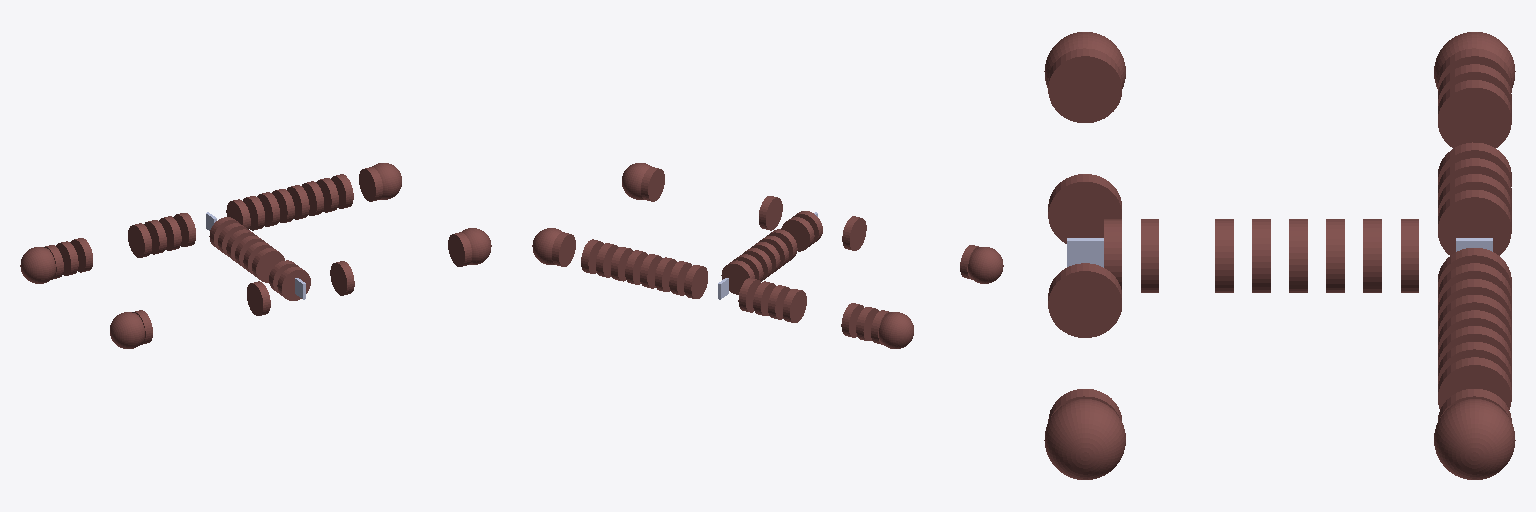
--- Render facts (derived) ---
3 views of the same robot in one strip: view 1: azimuth 30°, elevation 25°; view 2: azimuth 150°, elevation 25°; view 3: azimuth 270°, elevation 25° (orthographic).
Robot: fullurdf3 — 52 links, 51 joints (49 revolute, 2 fixed); root link base_link; default pose: all joints at 0.
Visible links, largest first — view 1: sec50, sec20, sec40, sec30, sec01, sec04, sec12, sec44, sec22; view 2: sec40, sec30, sec50, sec20, sec02, sec22, sec09, sec12, sec31, sec44; view 3: sec40, sec30, sec20, sec12, sec48, sec22, sec41, sec50, sec38, sec04, sec05, sec06 (+17 smaller).
Boxes of the visible links, x1=… form: sec50: x1=20, y1=245, x2=63, y2=283; sec20: x1=448, y1=228, x2=491, y2=266; sec40: x1=359, y1=163, x2=401, y2=201; sec30: x1=110, y1=310, x2=152, y2=348; sec01: x1=277, y1=267, x2=310, y2=300; sec04: x1=252, y1=248, x2=284, y2=282; sec12: x1=330, y1=261, x2=354, y2=295; sec44: x1=128, y1=223, x2=151, y2=257; sec22: x1=247, y1=281, x2=270, y2=315; sec40: x1=532, y1=228, x2=575, y2=266; sec30: x1=960, y1=245, x2=1003, y2=283; sec50: x1=871, y1=310, x2=913, y2=348; sec20: x1=622, y1=163, x2=664, y2=201; sec02: x1=781, y1=217, x2=814, y2=251; sec22: x1=842, y1=216, x2=866, y2=250; sec09: x1=721, y1=260, x2=754, y2=294; sec12: x1=759, y1=196, x2=782, y2=230; sec31: x1=684, y1=265, x2=707, y2=298; sec44: x1=783, y1=289, x2=806, y2=322; sec40: x1=1434, y1=389, x2=1515, y2=479; sec30: x1=1044, y1=32, x2=1125, y2=122; sec20: x1=1044, y1=389, x2=1125, y2=479; sec12: x1=1048, y1=263, x2=1121, y2=337; sec48: x1=1438, y1=80, x2=1511, y2=148; sec22: x1=1048, y1=174, x2=1121, y2=243; sec41: x1=1438, y1=190, x2=1511, y2=255; sec50: x1=1434, y1=32, x2=1515, y2=92; sec38: x1=1438, y1=357, x2=1511, y2=409; sec04: x1=1215, y1=219, x2=1233, y2=292; sec05: x1=1252, y1=219, x2=1270, y2=292; sec06: x1=1289, y1=219, x2=1307, y2=292.
Size in the robot's own frame: 0.2562 by 0.127 by 0.022 metres.
30 mesh visuals loaded from 52 distinct referenced files (30 binary STL); not drawn: 22 (reference not matched to a file when rendering).

The robot description file, URDF, robot "fullurdf3":
<?xml version="1.0" encoding="utf-8"?>
<!-- This URDF was automatically created by SolidWorks to URDF Exporter! Originally created by Stephen Brawner ([email redacted]) 
     Commit Version: 1.6.0-4-g7f85cfe  Build Version: 1.6.7995.38578
     For more information, please see http://wiki.ros.org/sw_urdf_exporter -->
<robot
  name="fullurdf3">
  <link
    name="base_link">
    <inertial>
      <origin
        xyz="2.27682456221956E-18 -0.005 0"
        rpy="0 0 0" />
      <mass
        value="0.0002" />
      <inertia
        ixx="3.33333333333334E-09"
        ixy="1.72329294281881E-26"
        ixz="3.0309750528515E-26"
        iyy="1.73333333333333E-09"
        iyz="-8.32068698519475E-26"
        izz="1.73333333333333E-09" />
    </inertial>
    <visual>
      <origin
        xyz="0 0 0"
        rpy="0 0 0" />
      <geometry>
        <mesh
          filename="package://fullurdf3/meshes/base_link.STL" />
      </geometry>
      <material
        name="">
        <color
          rgba="0.792156862745098 0.819607843137255 0.933333333333333 1" />
      </material>
    </visual>
    <collision>
      <origin
        xyz="0 0 0"
        rpy="0 0 0" />
      <geometry>
        <mesh
          filename="package://fullurdf3/meshes/base_link.STL" />
      </geometry>
    </collision>
  </link>
  <link
    name="sec01">
    <inertial>
      <origin
        xyz="7.5894E-19 0.0025 0"
        rpy="0 0 0" />
      <mass
        value="0.01398" />
      <inertia
        ixx="3.7863E-07"
        ixy="4.2141E-39"
        ixz="1.7723E-55"
        iyy="6.99E-07"
        iyz="6.754E-40"
        izz="3.7863E-07" />
    </inertial>
    <visual>
      <origin
        xyz="0 0 0"
        rpy="0 0 0" />
      <geometry>
        <mesh
          filename="package://fullurdf3/meshes/sec01.STL" />
      </geometry>
      <material
        name="">
        <color
          rgba="0.53725 0.34902 0.33725 1" />
      </material>
    </visual>
    <collision>
      <origin
        xyz="0 0 0"
        rpy="0 0 0" />
      <geometry>
        <mesh
          filename="package://fullurdf3/meshes/sec01.STL" />
      </geometry>
    </collision>
  </link>
  <joint
    name="joint01"
    type="fixed">
    <origin
      xyz="0 0 0"
      rpy="0 0 0" />
    <parent
      link="base_link" />
    <child
      link="sec01" />
    <axis
      xyz="0 0 0" />
    <limit
      lower="-1.571"
      upper="1.571"
      effort="100"
      velocity="100" />
  </joint>
  <link
    name="sec02">
    <inertial>
      <origin
        xyz="4.33680868994202E-19 0.0025 0"
        rpy="0 0 0" />
      <mass
        value="0.0139800873084746" />
      <inertia
        ixx="3.7862736460452E-07"
        ixy="4.90793830114796E-24"
        ixz="-9.81587660229593E-24"
        iyy="6.99004365423729E-07"
        iyz="-1.22698457528699E-24"
        izz="3.7862736460452E-07" />
    </inertial>
    <visual>
      <origin
        xyz="0 0 0"
        rpy="0 0 0" />
      <geometry>
        <mesh
          filename="package://fullurdf3/meshes/sec02.STL" />
      </geometry>
      <material
        name="">
        <color
          rgba="0.537254901960784 0.349019607843137 0.337254901960784 1" />
      </material>
    </visual>
    <collision>
      <origin
        xyz="0 0 0"
        rpy="0 0 0" />
      <geometry>
        <mesh
          filename="package://fullurdf3/meshes/sec02.STL" />
      </geometry>
    </collision>
  </link>
  <joint
    name="joint02"
    type="revolute">
    <origin
      xyz="0 0.01 0"
      rpy="0 0 0" />
    <parent
      link="sec01" />
    <child
      link="sec02" />
    <axis
      xyz="1 0 0" />
    <limit
      lower="-1.571"
      upper="1.571"
      effort="100"
      velocity="100" />
  </joint>
  <link
    name="sec03">
    <inertial>
      <origin
        xyz="2.71050543121376E-19 0.0025 0"
        rpy="0 0 0" />
      <mass
        value="0.0139800873084746" />
      <inertia
        ixx="3.7862736460452E-07"
        ixy="-4.90793830114797E-24"
        ixz="-3.58892988271445E-23"
        iyy="6.99004365423729E-07"
        iyz="2.45396915057398E-24"
        izz="3.7862736460452E-07" />
    </inertial>
    <visual>
      <origin
        xyz="0 0 0"
        rpy="0 0 0" />
      <geometry>
        <mesh
          filename="package://fullurdf3/meshes/sec03.STL" />
      </geometry>
      <material
        name="">
        <color
          rgba="0.537254901960784 0.349019607843137 0.337254901960784 1" />
      </material>
    </visual>
    <collision>
      <origin
        xyz="0 0 0"
        rpy="0 0 0" />
      <geometry>
        <mesh
          filename="package://fullurdf3/meshes/sec03.STL" />
      </geometry>
    </collision>
  </link>
  <joint
    name="joint03"
    type="revolute">
    <origin
      xyz="0 0.01 0"
      rpy="0 0 0" />
    <parent
      link="sec02" />
    <child
      link="sec03" />
    <axis
      xyz="1 0 0" />
    <limit
      lower="-1.571"
      upper="1.571"
      effort="100"
      velocity="100" />
  </joint>
  <link
    name="sec04">
    <inertial>
      <origin
        xyz="-3.25260651745651E-19 0.0025 0"
        rpy="0 0 0" />
      <mass
        value="0.0139800873084746" />
      <inertia
        ixx="3.7862736460452E-07"
        ixy="4.90793830114798E-24"
        ixz="-4.90793830114797E-23"
        iyy="6.99004365423729E-07"
        iyz="-1.0278932676585E-38"
        izz="3.7862736460452E-07" />
    </inertial>
    <visual>
      <origin
        xyz="0 0 0"
        rpy="0 0 0" />
      <geometry>
        <mesh
          filename="package://fullurdf3/meshes/sec04.STL" />
      </geometry>
      <material
        name="">
        <color
          rgba="0.537254901960784 0.349019607843137 0.337254901960784 1" />
      </material>
    </visual>
    <collision>
      <origin
        xyz="0 0 0"
        rpy="0 0 0" />
      <geometry>
        <mesh
          filename="package://fullurdf3/meshes/sec04.STL" />
      </geometry>
    </collision>
  </link>
  <joint
    name="joint04"
    type="revolute">
    <origin
      xyz="0 0.01 0"
      rpy="0 0 0" />
    <parent
      link="sec03" />
    <child
      link="sec04" />
    <axis
      xyz="1 0 0" />
    <limit
      lower="0"
      upper="0"
      effort="0"
      velocity="500" />
  </joint>
  <link
    name="sec05">
    <inertial>
      <origin
        xyz="-2.16840434497101E-19 0.0025 1.73472347597681E-18"
        rpy="0 0 0" />
      <mass
        value="0.0139800873084746" />
      <inertia
        ixx="3.7862736460452E-07"
        ixy="-2.45396915057397E-24"
        ixz="-1.71777840540178E-23"
        iyy="6.99004365423729E-07"
        iyz="-4.20247128011324E-40"
        izz="3.7862736460452E-07" />
    </inertial>
    <visual>
      <origin
        xyz="0 0 0"
        rpy="0 0 0" />
      <geometry>
        <mesh
          filename="package://fullurdf3/meshes/sec05.STL" />
      </geometry>
      <material
        name="">
        <color
          rgba="0.537254901960784 0.349019607843137 0.337254901960784 1" />
      </material>
    </visual>
    <collision>
      <origin
        xyz="0 0 0"
        rpy="0 0 0" />
      <geometry>
        <mesh
          filename="package://fullurdf3/meshes/sec05.STL" />
      </geometry>
    </collision>
  </link>
  <joint
    name="joint05"
    type="revolute">
    <origin
      xyz="0 0.01 0"
      rpy="0 0 0" />
    <parent
      link="sec04" />
    <child
      link="sec05" />
    <axis
      xyz="1 0 0" />
    <limit
      lower="-1.571"
      upper="1.571"
      effort="100"
      velocity="500" />
  </joint>
  <link
    name="sec06">
    <inertial>
      <origin
        xyz="-1.95156391047391E-18 0.0025 -3.46944695195361E-18"
        rpy="0 0 0" />
      <mass
        value="0.0139800873084746" />
      <inertia
        ixx="3.7862736460452E-07"
        ixy="1.22698457528698E-24"
        ixz="-5.67480366070232E-24"
        iyy="6.99004365423729E-07"
        iyz="2.97569029420945E-38"
        izz="3.7862736460452E-07" />
    </inertial>
    <visual>
      <origin
        xyz="0 0 0"
        rpy="0 0 0" />
      <geometry>
        <mesh
          filename="package://fullurdf3/meshes/sec06.STL" />
      </geometry>
      <material
        name="">
        <color
          rgba="0.537254901960784 0.349019607843137 0.337254901960784 1" />
      </material>
    </visual>
    <collision>
      <origin
        xyz="0 0 0"
        rpy="0 0 0" />
      <geometry>
        <mesh
          filename="package://fullurdf3/meshes/sec06.STL" />
      </geometry>
    </collision>
  </link>
  <joint
    name="joint06"
    type="revolute">
    <origin
      xyz="0 0.01 0"
      rpy="0 0 0" />
    <parent
      link="sec05" />
    <child
      link="sec06" />
    <axis
      xyz="1 0 0" />
    <limit
      lower="-1.571"
      upper="1.571"
      effort="100"
      velocity="500" />
  </joint>
  <link
    name="sec07">
    <inertial>
      <origin
        xyz="-1.84314369322536E-18 0.0025 -1.73472347597681E-18"
        rpy="0 0 0" />
      <mass
        value="0.0139800873084746" />
      <inertia
        ixx="3.7862736460452E-07"
        ixy="-1.67610990985475E-38"
        ixz="2.09237994446367E-37"
        iyy="6.99004365423729E-07"
        iyz="1.68127027333928E-38"
        izz="3.7862736460452E-07" />
    </inertial>
    <visual>
      <origin
        xyz="0 0 0"
        rpy="0 0 0" />
      <geometry>
        <mesh
          filename="package://fullurdf3/meshes/sec07.STL" />
      </geometry>
      <material
        name="">
        <color
          rgba="0.537254901960784 0.349019607843137 0.337254901960784 1" />
      </material>
    </visual>
    <collision>
      <origin
        xyz="0 0 0"
        rpy="0 0 0" />
      <geometry>
        <mesh
          filename="package://fullurdf3/meshes/sec07.STL" />
      </geometry>
    </collision>
  </link>
  <joint
    name="joint07"
    type="revolute">
    <origin
      xyz="0 0.01 0"
      rpy="0 0 0" />
    <parent
      link="sec06" />
    <child
      link="sec07" />
    <axis
      xyz="1 0 0" />
    <limit
      lower="-1.571"
      upper="1.571"
      effort="100"
      velocity="500" />
  </joint>
  <link
    name="sec08">
    <inertial>
      <origin
        xyz="-1.62630325872826E-18 0.0025 0"
        rpy="0 0 0" />
      <mass
        value="0.0139800873084746" />
      <inertia
        ixx="3.7862736460452E-07"
        ixy="-2.45396915057397E-24"
        ixz="-8.82039613106784E-40"
        iyy="6.99004365423729E-07"
        iyz="1.46923067573066E-39"
        izz="3.7862736460452E-07" />
    </inertial>
    <visual>
      <origin
        xyz="0 0 0"
        rpy="0 0 0" />
      <geometry>
        <mesh
          filename="package://fullurdf3/meshes/sec08.STL" />
      </geometry>
      <material
        name="">
        <color
          rgba="0.537254901960784 0.349019607843137 0.337254901960784 1" />
      </material>
    </visual>
    <collision>
      <origin
        xyz="0 0 0"
        rpy="0 0 0" />
      <geometry>
        <mesh
          filename="package://fullurdf3/meshes/sec08.STL" />
      </geometry>
    </collision>
  </link>
  <joint
    name="joint08"
    type="revolute">
    <origin
      xyz="0 0.01 0"
      rpy="0 0 0" />
    <parent
      link="sec07" />
    <child
      link="sec08" />
    <axis
      xyz="1 0 0" />
    <limit
      lower="-1.571"
      upper="1.571"
      effort="100"
      velocity="500" />
  </joint>
  <link
    name="sec09">
    <inertial>
      <origin
        xyz="-1.68051336735253E-18 0.0025 0"
        rpy="0 0 0" />
      <mass
        value="0.0139800873084746" />
      <inertia
        ixx="3.7862736460452E-07"
        ixy="5.11563180875594E-40"
        ixz="3.92635064091837E-23"
        iyy="6.9900436542373E-07"
        iyz="-2.95351140186029E-40"
        izz="3.7862736460452E-07" />
    </inertial>
    <visual>
      <origin
        xyz="0 0 0"
        rpy="0 0 0" />
      <geometry>
        <mesh
          filename="package://fullurdf3/meshes/sec09.STL" />
      </geometry>
      <material
        name="">
        <color
          rgba="0.537254901960784 0.349019607843137 0.337254901960784 1" />
      </material>
    </visual>
    <collision>
      <origin
        xyz="0 0 0"
        rpy="0 0 0" />
      <geometry>
        <mesh
          filename="package://fullurdf3/meshes/sec09.STL" />
      </geometry>
    </collision>
  </link>
  <joint
    name="joint09"
    type="revolute">
    <origin
      xyz="0 0.01 0"
      rpy="0 0 0" />
    <parent
      link="sec08" />
    <child
      link="sec09" />
    <axis
      xyz="1 0 0" />
    <limit
      lower="-1.571"
      upper="1.571"
      effort="100"
      velocity="500" />
  </joint>
  <link
    name="sec10">
    <inertial>
      <origin
        xyz="-3.41523684332934E-18 0.0025 0"
        rpy="0 0 0" />
      <mass
        value="0.0139800873084746" />
      <inertia
        ixx="3.7862736460452E-07"
        ixy="9.81587660229594E-24"
        ixz="6.13492287643496E-23"
        iyy="6.9900436542373E-07"
        iyz="4.90793830114797E-24"
        izz="3.7862736460452E-07" />
    </inertial>
    <visual>
      <origin
        xyz="0 0 0"
        rpy="0 0 0" />
      <geometry>
        <mesh
          filename="package://fullurdf3/meshes/sec10.STL" />
      </geometry>
      <material
        name="">
        <color
          rgba="0.537254901960784 0.349019607843137 0.337254901960784 1" />
      </material>
    </visual>
    <collision>
      <origin
        xyz="0 0 0"
        rpy="0 0 0" />
      <geometry>
        <mesh
          filename="package://fullurdf3/meshes/sec10.STL" />
      </geometry>
    </collision>
  </link>
  <joint
    name="joint10"
    type="revolute">
    <origin
      xyz="0 0.01 0"
      rpy="0 0 0" />
    <parent
      link="sec09" />
    <child
      link="sec10" />
    <axis
      xyz="1 0 0" />
    <limit
      lower="-1.571"
      upper="1.571"
      effort="100"
      velocity="500" />
  </joint>
  <link
    name="base02">
    <inertial>
      <origin
        xyz="-4.55364912443912E-18 0.01 0"
        rpy="0 0 0" />
      <mass
        value="0.0002" />
      <inertia
        ixx="3.33333333333334E-09"
        ixy="1.13745407508819E-26"
        ixz="-5.93103932846684E-26"
        iyy="1.73333333333334E-09"
        iyz="4.82446101602762E-25"
        izz="1.73333333333334E-09" />
    </inertial>
    <visual>
      <origin
        xyz="0 0 0"
        rpy="0 0 0" />
      <geometry>
        <mesh
          filename="package://fullurdf3/meshes/base02.STL" />
      </geometry>
      <material
        name="">
        <color
          rgba="0.792156862745098 0.819607843137255 0.933333333333333 1" />
      </material>
    </visual>
    <collision>
      <origin
        xyz="0 0 0"
        rpy="0 0 0" />
      <geometry>
        <mesh
          filename="package://fullurdf3/meshes/base02.STL" />
      </geometry>
    </collision>
  </link>
  <joint
    name="basejoint02"
    type="fixed">
    <origin
      xyz="0 0 0"
      rpy="0 0 0" />
    <parent
      link="sec10" />
    <child
      link="base02" />
    <axis
      xyz="0 0 0" />
  </joint>
  <link
    name="sec31">
    <inertial>
      <origin
        xyz="0.0025 0 1.7347E-18"
        rpy="0 0 0" />
      <mass
        value="0.01398" />
      <inertia
        ixx="6.99E-07"
        ixy="-1.4375E-23"
        ixz="1.2053E-22"
        iyy="3.7863E-07"
        iyz="-5.0766E-23"
        izz="3.7863E-07" />
    </inertial>
    <visual>
      <origin
        xyz="0 0 0"
        rpy="0 0 0" />
      <geometry>
        <mesh
          filename="package://fullurdf3/meshes/sec31.STL" />
      </geometry>
      <material
        name="">
        <color
          rgba="0.53725 0.34902 0.33725 1" />
      </material>
    </visual>
    <collision>
      <origin
        xyz="0 0 0"
        rpy="0 0 0" />
      <geometry>
        <mesh
          filename="package://fullurdf3/meshes/sec31.STL" />
      </geometry>
    </collision>
  </link>
  <joint
    name="joint31"
    type="revolute">
    <origin
      xyz="0.016 0.01 0"
      rpy="0 0 0" />
    <parent
      link="base02" />
    <child
      link="sec31" />
    <axis
      xyz="1 0 0" />
    <limit
      lower="-1.571"
      upper="1.571"
      effort="100"
      velocity="500" />
  </joint>
  <link
    name="sec32">
    <inertial>
      <origin
        xyz="0.0025 0 0"
        rpy="0 0 0" />
      <mass
        value="0.0139800873084746" />
      <inertia
        ixx="6.99004365423729E-07"
        ixy="-1.43749224972972E-23"
        ixz="1.22980674553966E-22"
        iyy="3.7862736460452E-07"
        iyz="-5.07664868024992E-23"
        izz="3.7862736460452E-07" />
    </inertial>
    <visual>
      <origin
        xyz="0 0 0"
        rpy="0 0 0" />
      <geometry>
        <mesh
          filename="package://fullurdf3/meshes/sec32.STL" />
      </geometry>
      <material
        name="">
        <color
          rgba="0.537254901960784 0.349019607843137 0.337254901960784 1" />
      </material>
    </visual>
    <collision>
      <origin
        xyz="0 0 0"
        rpy="0 0 0" />
      <geometry>
        <mesh
          filename="package://fullurdf3/meshes/sec32.STL" />
      </geometry>
    </collision>
  </link>
  <joint
    name="joint32"
    type="revolute">
    <origin
      xyz="0.01 0 0"
      rpy="0 0 0" />
    <parent
      link="sec31" />
    <child
      link="sec32" />
    <axis
      xyz="0 1 0" />
    <limit
      lower="-1.571"
      upper="1.571"
      effort="100"
      velocity="500" />
  </joint>
  <link
    name="sec33">
    <inertial>
      <origin
        xyz="0.0025 0 0"
        rpy="0 0 0" />
      <mass
        value="0.0139800873084746" />
      <inertia
        ixx="6.99004365423729E-07"
        ixy="-9.46698419614924E-24"
        ixz="1.22980674553966E-22"
        iyy="3.7862736460452E-07"
        iyz="-5.07664868024993E-23"
        izz="3.7862736460452E-07" />
    </inertial>
    <visual>
      <origin
        xyz="0 0 0"
        rpy="0 0 0" />
      <geometry>
        <mesh
          filename="package://fullurdf3/meshes/sec33.STL" />
      </geometry>
      <material
        name="">
        <color
          rgba="0.537254901960784 0.349019607843137 0.337254901960784 1" />
      </material>
    </visual>
    <collision>
      <origin
        xyz="0 0 0"
        rpy="0 0 0" />
      <geometry>
        <mesh
          filename="package://fullurdf3/meshes/sec33.STL" />
      </geometry>
    </collision>
  </link>
  <joint
    name="joint33"
    type="revolute">
    <origin
      xyz="0.01 0 0"
      rpy="0 0 0" />
    <parent
      link="sec32" />
    <child
      link="sec33" />
    <axis
      xyz="0 1 0" />
    <limit
      lower="-1.571"
      upper="1.571"
      effort="100"
      velocity="500" />
  </joint>
  <link
    name="sec34">
    <inertial>
      <origin
        xyz="0.0025 0 0"
        rpy="0 0 0" />
      <mass
        value="0.0139800873084746" />
      <inertia
        ixx="6.99004365423729E-07"
        ixy="-1.43749224972973E-23"
        ixz="1.2543464370454E-22"
        iyy="3.7862736460452E-07"
        iyz="-5.07664868024992E-23"
        izz="3.7862736460452E-07" />
    </inertial>
    <visual>
      <origin
        xyz="0 0 0"
        rpy="0 0 0" />
      <geometry>
        <mesh
          filename="package://fullurdf3/meshes/sec34.STL" />
      </geometry>
      <material
        name="">
        <color
          rgba="0.537254901960784 0.349019607843137 0.337254901960784 1" />
      </material>
    </visual>
    <collision>
      <origin
        xyz="0 0 0"
        rpy="0 0 0" />
      <geometry>
        <mesh
          filename="package://fullurdf3/meshes/sec34.STL" />
      </geometry>
    </collision>
  </link>
  <joint
    name="joint34"
    type="revolute">
    <origin
      xyz="0.01 0 0"
      rpy="0 0 0" />
    <parent
      link="sec33" />
    <child
      link="sec34" />
    <axis
      xyz="0 1 0" />
    <limit
      lower="-1.571"
      upper="1.571"
      effort="100"
      velocity="500" />
  </joint>
  <link
    name="sec35">
    <inertial>
      <origin
        xyz="0.0025 0 -3.46944695195361E-18"
        rpy="0 0 0" />
      <mass
        value="0.0139800873084746" />
      <inertia
        ixx="6.99004365423729E-07"
        ixy="-9.46698419614924E-24"
        ixz="1.22980674553966E-22"
        iyy="3.7862736460452E-07"
        iyz="-5.07664868024993E-23"
        izz="3.7862736460452E-07" />
    </inertial>
    <visual>
      <origin
        xyz="0 0 0"
        rpy="0 0 0" />
      <geometry>
        <mesh
          filename="package://fullurdf3/meshes/sec35.STL" />
      </geometry>
      <material
        name="">
        <color
          rgba="0.537254901960784 0.349019607843137 0.337254901960784 1" />
      </material>
    </visual>
    <collision>
      <origin
        xyz="0 0 0"
        rpy="0 0 0" />
      <geometry>
        <mesh
          filename="package://fullurdf3/meshes/sec35.STL" />
      </geometry>
    </collision>
  </link>
  <joint
    name="joint35"
    type="revolute">
    <origin
      xyz="0.01 0 0"
      rpy="0 0 0" />
    <parent
      link="sec34" />
    <child
      link="sec35" />
    <axis
      xyz="0 1 0" />
    <limit
      lower="-1.571"
      upper="1.571"
      effort="100"
      velocity="500" />
  </joint>
  <link
    name="sec36">
    <inertial>
      <origin
        xyz="0.0025 1.38777878078145E-17 -1.73472347597681E-18"
        rpy="0 0 0" />
      <mass
        value="0.0139800873084746" />
      <inertia
        ixx="6.9900436542373E-07"
        ixy="-1.43749224972972E-23"
        ixz="1.2543464370454E-22"
        iyy="3.7862736460452E-07"
        iyz="-5.07664868024993E-23"
        izz="3.7862736460452E-07" />
    </inertial>
    <visual>
      <origin
        xyz="0 0 0"
        rpy="0 0 0" />
      <geometry>
        <mesh
          filename="package://fullurdf3/meshes/sec36.STL" />
      </geometry>
      <material
        name="">
        <color
          rgba="0.537254901960784 0.349019607843137 0.337254901960784 1" />
      </material>
    </visual>
    <collision>
      <origin
        xyz="0 0 0"
        rpy="0 0 0" />
      <geometry>
        <mesh
          filename="package://fullurdf3/meshes/sec36.STL" />
      </geometry>
    </collision>
  </link>
  <joint
    name="joint36"
    type="revolute">
    <origin
      xyz="0.01 0 0"
      rpy="0 0 0" />
    <parent
      link="sec35" />
    <child
      link="sec36" />
    <axis
      xyz="0 1 0" />
    <limit
      lower="-1.571"
      upper="1.571"
      effort="100"
      velocity="500" />
  </joint>
  <link
    name="sec37">
    <inertial>
      <origin
        xyz="0.0025 1.38777878078145E-17 0"
        rpy="0 0 0" />
      <mass
        value="0.0139800873084746" />
      <inertia
        ixx="6.9900436542373E-07"
        ixy="-1.43749224972972E-23"
        ixz="1.22980674553966E-22"
        iyy="3.7862736460452E-07"
        iyz="-5.07664868024992E-23"
        izz="3.7862736460452E-07" />
    </inertial>
    <visual>
      <origin
        xyz="0 0 0"
        rpy="0 0 0" />
      <geometry>
        <mesh
          filename="package://fullurdf3/meshes/sec37.STL" />
      </geometry>
      <material
        name="">
        <color
          rgba="0.537254901960784 0.349019607843137 0.337254901960784 1" />
      </material>
    </visual>
    <collision>
      <origin
        xyz="0 0 0"
        rpy="0 0 0" />
      <geometry>
        <mesh
          filename="package://fullurdf3/meshes/sec37.STL" />
      </geometry>
    </collision>
  </link>
  <joint
    name="joint37"
    type="revolute">
    <origin
      xyz="0.00999999999999998 0 0"
      rpy="0 0 0" />
    <parent
      link="sec36" />
    <child
      link="sec37" />
    <axis
      xyz="0 1 0" />
    <limit
      lower="-1.571"
      upper="1.571"
      effort="100"
      velocity="500" />
  </joint>
  <link
    name="sec38">
    <inertial>
      <origin
        xyz="0.00249999999999999 1.38777878078145E-17 -6.93889390390723E-18"
        rpy="0 0 0" />
      <mass
        value="0.0139800873084746" />
      <inertia
        ixx="6.9900436542373E-07"
        ixy="-1.43749224972972E-23"
        ixz="1.22980674553966E-22"
        iyy="3.7862736460452E-07"
        iyz="-5.07664868024993E-23"
        izz="3.7862736460452E-07" />
    </inertial>
    <visual>
      <origin
        xyz="0 0 0"
        rpy="0 0 0" />
      <geometry>
        <mesh
          filename="package://fullurdf3/meshes/sec38.STL" />
      </geometry>
      <material
        name="">
        <color
          rgba="0.537254901960784 0.349019607843137 0.337254901960784 1" />
      </material>
    </visual>
    <collision>
      <origin
        xyz="0 0 0"
        rpy="0 0 0" />
      <geometry>
        <mesh
          filename="package://fullurdf3/meshes/sec38.STL" />
      </geometry>
    </collision>
  </link>
  <joint
    name="joint38"
    type="revolute">
    <origin
      xyz="0.01 0 0"
      rpy="0 0 0" />
    <parent
      link="sec37" />
    <child
      link="sec38" />
    <axis
      xyz="0 1 0" />
    <limit
      lower="-1.571"
      upper="1.571"
      effort="100"
      velocity="500" />
  </joint>
  <link
    name="sec39">
    <inertial>
      <origin
        xyz="0.00249999999999999 1.38777878078145E-17 -6.93889390390723E-18"
        rpy="0 0 0" />
      <mass
        value="0.0139800873084746" />
      <inertia
        ixx="6.9900436542373E-07"
        ixy="-1.43749224972972E-23"
        ixz="1.22980674553966E-22"
        iyy="3.7862736460452E-07"
        iyz="-5.07664868024993E-23"
        izz="3.7862736460452E-07" />
    </inertial>
    <visual>
      <origin
        xyz="0 0 0"
        rpy="0 0 0" />
      <geometry>
        <mesh
          filename="package://fullurdf3/meshes/sec39.STL" />
      </geometry>
      <material
        name="">
        <color
          rgba="0.537254901960784 0.349019607843137 0.337254901960784 1" />
      </material>
    </visual>
    <collision>
      <origin
        xyz="0 0 0"
        rpy="0 0 0" />
      <geometry>
        <mesh
          filename="package://fullurdf3/meshes/sec39.STL" />
      </geometry>
    </collision>
  </link>
  <joint
    name="joint39"
    type="revolute">
    <origin
      xyz="0.01 0 0"
      rpy="0 0 0" />
    <parent
      link="sec38" />
    <child
      link="sec39" />
    <axis
      xyz="0 1 0" />
    <limit
      lower="-1.571"
      upper="1.571"
      effort="100"
      velocity="500" />
  </joint>
  <link
    name="sec40">
    <inertial>
      <origin
        xyz="0.00986190762280907 -1.38777878078145E-17 -6.93889390390723E-18"
        rpy="0 0 0" />
      <mass
        value="0.0573263557938968" />
      <inertia
        ixx="2.91661427121802E-06"
        ixy="6.54926831459923E-24"
        ixz="3.62830346829495E-22"
        iyy="2.24174718695487E-06"
        iyz="1.68680578777252E-23"
        izz="2.24174718695487E-06" />
    </inertial>
    <visual>
      <origin
        xyz="0 0 0"
        rpy="0 0 0" />
      <geometry>
        <mesh
          filename="package://fullurdf3/meshes/sec40.STL" />
      </geometry>
      <material
        name="">
        <color
          rgba="0.537254901960784 0.349019607843137 0.337254901960784 1" />
      </material>
    </visual>
    <collision>
      <origin
        xyz="0 0 0"
        rpy="0 0 0" />
      <geometry>
        <mesh
          filename="package://fullurdf3/meshes/sec40.STL" />
      </geometry>
    </collision>
  </link>
  <joint
    name="joint40"
    type="revolute">
    <origin
      xyz="0.00999999999999998 0 0"
      rpy="0 0 0" />
    <parent
      link="sec39" />
    <child
      link="sec40" />
    <axis
      xyz="0 1 0" />
    <limit
      lower="-1.571"
      upper="1.571"
      effort="100"
      velocity="500" />
  </joint>
  <link
    name="sec41">
    <inertial>
      <origin
        xyz="-0.0025 0 0"
        rpy="0 0 0" />
      <mass
        value="0.01398" />
      <inertia
        ixx="6.99E-07"
        ixy="3.5365E-25"
        ixz="-3.4866E-23"
        iyy="3.7863E-07"
        iyz="-2.6227E-23"
        izz="3.7863E-07" />
    </inertial>
    <visual>
      <origin
        xyz="0 0 0"
        rpy="0 0 0" />
      <geometry>
        <mesh
          filename="package://fullurdf3/meshes/sec41.STL" />
      </geometry>
      <material
        name="">
        <color
          rgba="0.53725 0.34902 0.33725 1" />
      </material>
    </visual>
    <collision>
      <origin
        xyz="0 0 0"
        rpy="0 0 0" />
      <geometry>
        <mesh
          filename="package://fullurdf3/meshes/sec41.STL" />
      </geometry>
    </collision>
  </link>
  <joint
    name="joint41"
    type="revolute">
    <origin
      xyz="-0.016 0.01 0"
      rpy="0 0 0" />
    <parent
      link="base02" />
    <child
      link="sec41" />
    <axis
      xyz="1 0 0" />
    <limit
      lower="-1.571"
      upper="1.571"
      effort="100"
      velocity="500" />
  </joint>
  <link
    name="sec42">
    <inertial>
      <origin
        xyz="-0.00250000000000001 0 -6.93889390390723E-18"
        rpy="0 0 0" />
      <mass
        value="0.0139800873084746" />
      <inertia
        ixx="6.99004365423729E-07"
        ixy="2.8076173490865E-24"
        ixz="-3.9773971594086E-23"
        iyy="3.7862736460452E-07"
        iyz="-1.07361150337612E-23"
        izz="3.7862736460452E-07" />
    </inertial>
    <visual>
      <origin
        xyz="0 0 0"
        rpy="0 0 0" />
      <geometry>
        <mesh
          filename="package://fullurdf3/meshes/sec42.STL" />
      </geometry>
      <material
        name="">
        <color
          rgba="0.537254901960784 0.349019607843137 0.337254901960784 1" />
      </material>
    </visual>
    <collision>
      <origin
        xyz="0 0 0"
        rpy="0 0 0" />
      <geometry>
        <mesh
          filename="package://fullurdf3/meshes/sec42.STL" />
      </geometry>
    </collision>
  </link>
  <joint
    name="joint42"
    type="revolute">
    <origin
      xyz="-0.01 0 0"
      rpy="0 0 0" />
    <parent
      link="sec41" />
    <child
      link="sec42" />
    <axis
      xyz="0 -1 0" />
    <limit
      lower="-1.571"
      upper="1.571"
      effort="100"
      velocity="500" />
  </joint>
  <link
    name="sec43">
    <inertial>
      <origin
        xyz="-0.0025 0 1.73472347597681E-18"
        rpy="0 0 0" />
      <mass
        value="0.0139800873084746" />
      <inertia
        ixx="6.99004365423729E-07"
        ixy="2.80761734908649E-24"
        ixz="-3.9773971594086E-23"
        iyy="3.7862736460452E-07"
        iyz="1.62575456225526E-23"
        izz="3.7862736460452E-07" />
    </inertial>
    <visual>
      <origin
        xyz="0 0 0"
        rpy="0 0 0" />
      <geometry>
        <mesh
          filename="package://fullurdf3/meshes/sec43.STL" />
      </geometry>
      <material
        name="">
        <color
          rgba="0.537254901960784 0.349019607843137 0.337254901960784 1" />
      </material>
    </visual>
    <collision>
      <origin
        xyz="0 0 0"
        rpy="0 0 0" />
      <geometry>
        <mesh
          filename="package://fullurdf3/meshes/sec43.STL" />
      </geometry>
    </collision>
  </link>
  <joint
    name="joint43"
    type="revolute">
    <origin
      xyz="-0.01 0 0"
      rpy="0 0 0" />
    <parent
      link="sec42" />
    <child
      link="sec43" />
    <axis
      xyz="0 -1 0" />
    <limit
      lower="-1.571"
      upper="1.571"
      effort="100"
      velocity="500" />
  </joint>
  <link
    name="sec44">
    <inertial>
      <origin
        xyz="-0.0025 0 1.73472347597681E-18"
        rpy="0 0 0" />
      <mass
        value="0.0139800873084746" />
      <inertia
        ixx="6.99004365423729E-07"
        ixy="2.80761734908649E-24"
        ixz="-3.9773971594086E-23"
        iyy="3.7862736460452E-07"
        iyz="-3.7729775690075E-23"
        izz="3.7862736460452E-07" />
    </inertial>
    <visual>
      <origin
        xyz="0 0 0"
        rpy="0 0 0" />
      <geometry>
        <mesh
          filename="package://fullurdf3/meshes/sec44.STL" />
      </geometry>
      <material
        name="">
        <color
          rgba="0.537254901960784 0.349019607843137 0.337254901960784 1" />
      </material>
    </visual>
    <collision>
      <origin
        xyz="0 0 0"
        rpy="0 0 0" />
      <geometry>
        <mesh
          filename="package://fullurdf3/meshes/sec44.STL" />
      </geometry>
    </collision>
  </link>
  <joint
    name="joint44"
    type="revolute">
    <origin
      xyz="-0.01 0 0"
      rpy="0 0 0" />
    <parent
      link="sec43" />
    <child
      link="sec44" />
    <axis
      xyz="0 -1 0" />
    <limit
      lower="-1.571"
      upper="1.571"
      effort="100"
      velocity="500" />
  </joint>
  <link
    name="sec45">
    <inertial>
      <origin
        xyz="-0.00249999999999999 0 -5.20417042793042E-18"
        rpy="0 0 0" />
      <mass
        value="0.0139800873084746" />
      <inertia
        ixx="6.99004365423729E-07"
        ixy="5.26158649966047E-24"
        ixz="-4.4681909895234E-23"
        iyy="3.7862736460452E-07"
        iyz="-1.07361150337612E-23"
        izz="3.7862736460452E-07" />
    </inertial>
    <visual>
      <origin
        xyz="0 0 0"
        rpy="0 0 0" />
      <geometry>
        <mesh
          filename="package://fullurdf3/meshes/sec45.STL" />
      </geometry>
      <material
        name="">
        <color
          rgba="0.537254901960784 0.349019607843137 0.337254901960784 1" />
      </material>
    </visual>
    <collision>
      <origin
        xyz="0 0 0"
        rpy="0 0 0" />
      <geometry>
        <mesh
          filename="package://fullurdf3/meshes/sec45.STL" />
      </geometry>
    </collision>
  </link>
  <joint
    name="joint45"
    type="revolute">
    <origin
      xyz="-0.01 0 0"
      rpy="0 0 0" />
    <parent
      link="sec44" />
    <child
      link="sec45" />
    <axis
      xyz="0 -1 0" />
    <limit
      lower="-1.571"
      upper="1.571"
      effort="100"
      velocity="500" />
  </joint>
  <link
    name="sec46">
    <inertial>
      <origin
        xyz="-0.0025 1.38777878078145E-17 -5.20417042793042E-18"
        rpy="0 0 0" />
      <mass
        value="0.0139800873084746" />
      <inertia
        ixx="6.9900436542373E-07"
        ixy="2.8076173490865E-24"
        ixz="-3.48660332929381E-23"
        iyy="3.7862736460452E-07"
        iyz="-2.22390954270767E-23"
        izz="3.7862736460452E-07" />
    </inertial>
    <visual>
      <origin
        xyz="0 0 0"
        rpy="0 0 0" />
      <geometry>
        <mesh
          filename="package://fullurdf3/meshes/sec46.STL" />
      </geometry>
      <material
        name="">
        <color
          rgba="0.537254901960784 0.349019607843137 0.337254901960784 1" />
      </material>
    </visual>
    <collision>
      <origin
        xyz="0 0 0"
        rpy="0 0 0" />
      <geometry>
        <mesh
          filename="package://fullurdf3/meshes/sec46.STL" />
      </geometry>
    </collision>
  </link>
  <joint
    name="joint46"
    type="revolute">
    <origin
      xyz="-0.01 0 0"
      rpy="0 0 0" />
    <parent
      link="sec45" />
    <child
      link="sec46" />
    <axis
      xyz="0 -1 0" />
    <limit
      lower="-1.571"
      upper="1.571"
      effort="100"
      velocity="500" />
  </joint>
  <link
    name="sec47">
    <inertial>
      <origin
        xyz="-0.0025 1.38777878078145E-17 -5.20417042793042E-18"
        rpy="0 0 0" />
      <mass
        value="0.0139800873084746" />
      <inertia
        ixx="6.9900436542373E-07"
        ixy="3.53648198512522E-25"
        ixz="-3.48660332929381E-23"
        iyy="3.7862736460452E-07"
        iyz="-4.92327560833906E-23"
        izz="3.7862736460452E-07" />
    </inertial>
    <visual>
      <origin
        xyz="0 0 0"
        rpy="0 0 0" />
      <geometry>
        <mesh
          filename="package://fullurdf3/meshes/sec47.STL" />
      </geometry>
      <material
        name="">
        <color
          rgba="0.537254901960784 0.349019607843137 0.337254901960784 1" />
      </material>
    </visual>
    <collision>
      <origin
        xyz="0 0 0"
        rpy="0 0 0" />
      <geometry>
        <mesh
          filename="package://fullurdf3/meshes/sec47.STL" />
      </geometry>
    </collision>
  </link>
  <joint
    name="joint47"
    type="revolute">
    <origin
      xyz="-0.01 0 0"
      rpy="0 0 0" />
    <parent
      link="sec46" />
    <child
      link="sec47" />
    <axis
      xyz="0 -1 0" />
    <limit
      lower="-1.571"
      upper="1.571"
      effort="100"
      velocity="500" />
  </joint>
  <link
    name="sec48">
    <inertial>
      <origin
        xyz="-0.00249999999999999 0 -6.93889390390723E-18"
        rpy="0 0 0" />
      <mass
        value="0.0139800873084746" />
      <inertia
        ixx="6.9900436542373E-07"
        ixy="2.80761734908651E-24"
        ixz="-3.97739715940861E-23"
        iyy="3.7862736460452E-07"
        iyz="-2.22390954270767E-23"
        izz="3.7862736460452E-07" />
    </inertial>
    <visual>
      <origin
        xyz="0 0 0"
        rpy="0 0 0" />
      <geometry>
        <mesh
          filename="package://fullurdf3/meshes/sec48.STL" />
      </geometry>
      <material
        name="">
        <color
          rgba="0.537254901960784 0.349019607843137 0.337254901960784 1" />
      </material>
    </visual>
    <collision>
      <origin
        xyz="0 0 0"
        rpy="0 0 0" />
      <geometry>
        <mesh
          filename="package://fullurdf3/meshes/sec48.STL" />
      </geometry>
    </collision>
  </link>
  <joint
    name="joint48"
    type="revolute">
    <origin
      xyz="-0.01 0 0"
      rpy="0 0 0" />
    <parent
      link="sec47" />
    <child
      link="sec48" />
    <axis
      xyz="0 -1 0" />
    <limit
      lower="-1.571"
      upper="1.571"
      effort="100"
      velocity="500" />
  </joint>
  <link
    name="sec49">
    <inertial>
      <origin
        xyz="-0.0025 0 -5.20417042793042E-18"
        rpy="0 0 0" />
      <mass
        value="0.0139800873084746" />
      <inertia
        ixx="6.9900436542373E-07"
        ixy="2.8076173490865E-24"
        ixz="-3.48660332929381E-23"
        iyy="3.7862736460452E-07"
        iyz="-2.22390954270767E-23"
        izz="3.7862736460452E-07" />
    </inertial>
    <visual>
      <origin
        xyz="0 0 0"
        rpy="0 0 0" />
      <geometry>
        <mesh
          filename="package://fullurdf3/meshes/sec49.STL" />
      </geometry>
      <material
        name="">
        <color
          rgba="0.537254901960784 0.349019607843137 0.337254901960784 1" />
      </material>
    </visual>
    <collision>
      <origin
        xyz="0 0 0"
        rpy="0 0 0" />
      <geometry>
        <mesh
          filename="package://fullurdf3/meshes/sec49.STL" />
      </geometry>
    </collision>
  </link>
  <joint
    name="joint49"
    type="revolute">
    <origin
      xyz="-0.01 0 0"
      rpy="0 0 0" />
    <parent
      link="sec48" />
    <child
      link="sec49" />
    <axis
      xyz="0 -1 0" />
    <limit
      lower="-1.571"
      upper="1.571"
      effort="100"
      velocity="500" />
  </joint>
  <link
    name="sec50">
    <inertial>
      <origin
        xyz="-0.0098619076228091 2.77555756156289E-17 -4.85722573273506E-17"
        rpy="0 0 0" />
      <mass
        value="0.0573263557938968" />
      <inertia
        ixx="2.91661427121802E-06"
        ixy="-5.61980354315542E-23"
        ixz="9.3804187619452E-23"
        iyy="2.24174718695487E-06"
        iyz="-1.83562051311597E-22"
        izz="2.24174718695487E-06" />
    </inertial>
    <visual>
      <origin
        xyz="0 0 0"
        rpy="0 0 0" />
      <geometry>
        <mesh
          filename="package://fullurdf3/meshes/sec50.STL" />
      </geometry>
      <material
        name="">
        <color
          rgba="0.537254901960784 0.349019607843137 0.337254901960784 1" />
      </material>
    </visual>
    <collision>
      <origin
        xyz="0 0 0"
        rpy="0 0 0" />
      <geometry>
        <mesh
          filename="package://fullurdf3/meshes/sec50.STL" />
      </geometry>
    </collision>
  </link>
  <joint
    name="joint50"
    type="revolute">
    <origin
      xyz="-0.01 0 0"
      rpy="0 0 0" />
    <parent
      link="sec49" />
    <child
      link="sec50" />
    <axis
      xyz="0 -1 0" />
    <limit
      lower="-1.571"
      upper="1.571"
      effort="100"
      velocity="500" />
  </joint>
  <link
    name="sec11">
    <inertial>
      <origin
        xyz="0.0025 0 1.7347E-18"
        rpy="0 0 0" />
      <mass
        value="0.01398" />
      <inertia
        ixx="6.99E-07"
        ixy="-2.454E-24"
        ixz="-9.8159E-24"
        iyy="3.7863E-07"
        iyz="1.227E-23"
        izz="3.7863E-07" />
    </inertial>
    <visual>
      <origin
        xyz="0 0 0"
        rpy="0 0 0" />
      <geometry>
        <mesh
          filename="package://fullurdf3/meshes/sec11.STL" />
      </geometry>
      <material
        name="">
        <color
          rgba="0.53725 0.34902 0.33725 1" />
      </material>
    </visual>
    <collision>
      <origin
        xyz="0 0 0"
        rpy="0 0 0" />
      <geometry>
        <mesh
          filename="package://fullurdf3/meshes/sec11.STL" />
      </geometry>
    </collision>
  </link>
  <joint
    name="joint11"
    type="revolute">
    <origin
      xyz="0.016 -0.005 0"
      rpy="0 0 0" />
    <parent
      link="base_link" />
    <child
      link="sec11" />
    <axis
      xyz="1 0 0" />
    <limit
      lower="-1.571"
      upper="1.571"
      effort="100"
      velocity="500" />
  </joint>
  <link
    name="sec12">
    <inertial>
      <origin
        xyz="0.0025 0 1.73472347597681E-18"
        rpy="0 0 0" />
      <mass
        value="0.0139800873084746" />
      <inertia
        ixx="6.99004365423729E-07"
        ixy="2.26669732393498E-40"
        ixz="2.25559263306684E-40"
        iyy="3.7862736460452E-07"
        iyz="1.22698457528699E-23"
        izz="3.7862736460452E-07" />
    </inertial>
    <visual>
      <origin
        xyz="0 0 0"
        rpy="0 0 0" />
      <geometry>
        <mesh
          filename="package://fullurdf3/meshes/sec12.STL" />
      </geometry>
      <material
        name="">
        <color
          rgba="0.537254901960784 0.349019607843137 0.337254901960784 1" />
      </material>
    </visual>
    <collision>
      <origin
        xyz="0 0 0"
        rpy="0 0 0" />
      <geometry>
        <mesh
          filename="package://fullurdf3/meshes/sec12.STL" />
      </geometry>
    </collision>
  </link>
  <joint
    name="joint12"
    type="revolute">
    <origin
      xyz="0.01 0 0"
      rpy="0 0 0" />
    <parent
      link="sec11" />
    <child
      link="sec12" />
    <axis
      xyz="0 1 0" />
    <limit
      lower="-1.571"
      upper="1.571"
      effort="100"
      velocity="500" />
  </joint>
  <link
    name="sec13">
    <inertial>
      <origin
        xyz="0.0025 0 1.73472347597681E-18"
        rpy="0 0 0" />
      <mass
        value="0.0139800873084746" />
      <inertia
        ixx="6.99004365423729E-07"
        ixy="-2.45396915057399E-24"
        ixz="-9.81587660229591E-24"
        iyy="3.7862736460452E-07"
        iyz="1.22698457528699E-23"
        izz="3.7862736460452E-07" />
    </inertial>
    <visual>
      <origin
        xyz="0 0 0"
        rpy="0 0 0" />
      <geometry>
        <mesh
          filename="package://fullurdf3/meshes/sec13.STL" />
      </geometry>
      <material
        name="">
        <color
          rgba="0.537254901960784 0.349019607843137 0.337254901960784 1" />
      </material>
    </visual>
    <collision>
      <origin
        xyz="0 0 0"
        rpy="0 0 0" />
      <geometry>
        <mesh
          filename="package://fullurdf3/meshes/sec13.STL" />
      </geometry>
    </collision>
  </link>
  <joint
    name="joint13"
    type="revolute">
    <origin
      xyz="0.01 0 0"
      rpy="0 0 0" />
    <parent
      link="sec12" />
    <child
      link="sec13" />
    <axis
      xyz="0 1 0" />
    <limit
      lower="-1.571"
      upper="1.571"
      effort="100"
      velocity="500" />
  </joint>
  <link
    name="sec14">
    <inertial>
      <origin
        xyz="0.0025 0 1.73472347597681E-18"
        rpy="0 0 0" />
      <mass
        value="0.0139800873084746" />
      <inertia
        ixx="6.99004365423729E-07"
        ixy="-2.45396915057399E-24"
        ixz="-9.81587660229591E-24"
        iyy="3.7862736460452E-07"
        iyz="1.22698457528699E-23"
        izz="3.7862736460452E-07" />
    </inertial>
    <visual>
      <origin
        xyz="0 0 0"
        rpy="0 0 0" />
      <geometry>
        <mesh
          filename="package://fullurdf3/meshes/sec14.STL" />
      </geometry>
      <material
        name="">
        <color
          rgba="0.537254901960784 0.349019607843137 0.337254901960784 1" />
      </material>
    </visual>
    <collision>
      <origin
        xyz="0 0 0"
        rpy="0 0 0" />
      <geometry>
        <mesh
          filename="package://fullurdf3/meshes/sec14.STL" />
      </geometry>
    </collision>
  </link>
  <joint
    name="joint14"
    type="revolute">
    <origin
      xyz="0.01 0 0"
      rpy="0 0 0" />
    <parent
      link="sec13" />
    <child
      link="sec14" />
    <axis
      xyz="0 1 0" />
    <limit
      lower="-1.571"
      upper="1.571"
      effort="100"
      velocity="500" />
  </joint>
  <link
    name="sec15">
    <inertial>
      <origin
        xyz="0.0025 0 1.73472347597681E-18"
        rpy="0 0 0" />
      <mass
        value="0.0139800873084746" />
      <inertia
        ixx="6.99004365423729E-07"
        ixy="2.45396915057399E-24"
        ixz="9.81587660229591E-24"
        iyy="3.7862736460452E-07"
        iyz="1.22698457528699E-23"
        izz="3.7862736460452E-07" />
    </inertial>
    <visual>
      <origin
        xyz="0 0 0"
        rpy="0 0 0" />
      <geometry>
        <mesh
          filename="package://fullurdf3/meshes/sec15.STL" />
      </geometry>
      <material
        name="">
        <color
          rgba="0.537254901960784 0.349019607843137 0.337254901960784 1" />
      </material>
    </visual>
    <collision>
      <origin
        xyz="0 0 0"
        rpy="0 0 0" />
      <geometry>
        <mesh
          filename="package://fullurdf3/meshes/sec15.STL" />
      </geometry>
    </collision>
  </link>
  <joint
    name="joint15"
    type="revolute">
    <origin
      xyz="0.01 0 0"
      rpy="0 0 0" />
    <parent
      link="sec14" />
    <child
      link="sec15" />
    <axis
      xyz="0 1 0" />
    <limit
      lower="-1.571"
      upper="1.571"
      effort="100"
      velocity="500" />
  </joint>
  <link
    name="sec16">
    <inertial>
      <origin
        xyz="0.0025 0 1.73472347597681E-18"
        rpy="0 0 0" />
      <mass
        value="0.0139800873084746" />
      <inertia
        ixx="6.9900436542373E-07"
        ixy="7.98179605279416E-40"
        ixz="3.19271842111766E-39"
        iyy="3.7862736460452E-07"
        iyz="2.37728261461855E-23"
        izz="3.7862736460452E-07" />
    </inertial>
    <visual>
      <origin
        xyz="0 0 0"
        rpy="0 0 0" />
      <geometry>
        <mesh
          filename="package://fullurdf3/meshes/sec16.STL" />
      </geometry>
      <material
        name="">
        <color
          rgba="0.537254901960784 0.349019607843137 0.337254901960784 1" />
      </material>
    </visual>
    <collision>
      <origin
        xyz="0 0 0"
        rpy="0 0 0" />
      <geometry>
        <mesh
          filename="package://fullurdf3/meshes/sec16.STL" />
      </geometry>
    </collision>
  </link>
  <joint
    name="joint16"
    type="revolute">
    <origin
      xyz="0.01 0 0"
      rpy="0 0 0" />
    <parent
      link="sec15" />
    <child
      link="sec16" />
    <axis
      xyz="0 1 0" />
    <limit
      lower="-1.571"
      upper="1.571"
      effort="100"
      velocity="500" />
  </joint>
  <link
    name="sec17">
    <inertial>
      <origin
        xyz="0.0025 0 1.73472347597681E-18"
        rpy="0 0 0" />
      <mass
        value="0.0139800873084746" />
      <inertia
        ixx="6.9900436542373E-07"
        ixy="7.98179605279416E-40"
        ixz="2.55417473689413E-39"
        iyy="3.7862736460452E-07"
        iyz="2.37728261461855E-23"
        izz="3.7862736460452E-07" />
    </inertial>
    <visual>
      <origin
        xyz="0 0 0"
        rpy="0 0 0" />
      <geometry>
        <mesh
          filename="package://fullurdf3/meshes/sec17.STL" />
      </geometry>
      <material
        name="">
        <color
          rgba="0.537254901960784 0.349019607843137 0.337254901960784 1" />
      </material>
    </visual>
    <collision>
      <origin
        xyz="0 0 0"
        rpy="0 0 0" />
      <geometry>
        <mesh
          filename="package://fullurdf3/meshes/sec17.STL" />
      </geometry>
    </collision>
  </link>
  <joint
    name="joint17"
    type="revolute">
    <origin
      xyz="0.01 0 0"
      rpy="0 0 0" />
    <parent
      link="sec16" />
    <child
      link="sec17" />
    <axis
      xyz="0 1 0" />
    <limit
      lower="-1.571"
      upper="1.571"
      effort="100"
      velocity="500" />
  </joint>
  <link
    name="sec18">
    <inertial>
      <origin
        xyz="0.0025 0 1.73472347597681E-18"
        rpy="0 0 0" />
      <mass
        value="0.0139800873084746" />
      <inertia
        ixx="6.9900436542373E-07"
        ixy="7.98179605279416E-40"
        ixz="3.19271842111766E-39"
        iyy="3.7862736460452E-07"
        iyz="2.37728261461855E-23"
        izz="3.7862736460452E-07" />
    </inertial>
    <visual>
      <origin
        xyz="0 0 0"
        rpy="0 0 0" />
      <geometry>
        <mesh
          filename="package://fullurdf3/meshes/sec18.STL" />
      </geometry>
      <material
        name="">
        <color
          rgba="0.537254901960784 0.349019607843137 0.337254901960784 1" />
      </material>
    </visual>
    <collision>
      <origin
        xyz="0 0 0"
        rpy="0 0 0" />
      <geometry>
        <mesh
          filename="package://fullurdf3/meshes/sec18.STL" />
      </geometry>
    </collision>
  </link>
  <joint
    name="joint18"
    type="revolute">
    <origin
      xyz="0.01 0 0"
      rpy="0 0 0" />
    <parent
      link="sec17" />
    <child
      link="sec18" />
    <axis
      xyz="0 1 0" />
    <limit
      lower="-1.571"
      upper="1.571"
      effort="100"
      velocity="500" />
  </joint>
  <link
    name="sec19">
    <inertial>
      <origin
        xyz="0.00249999999999999 0 1.73472347597681E-18"
        rpy="0 0 0" />
      <mass
        value="0.0139800873084746" />
      <inertia
        ixx="6.9900436542373E-07"
        ixy="7.98179605279416E-40"
        ixz="3.19271842111766E-39"
        iyy="3.7862736460452E-07"
        iyz="2.37728261461855E-23"
        izz="3.7862736460452E-07" />
    </inertial>
    <visual>
      <origin
        xyz="0 0 0"
        rpy="0 0 0" />
      <geometry>
        <mesh
          filename="package://fullurdf3/meshes/sec19.STL" />
      </geometry>
      <material
        name="">
        <color
          rgba="0.537254901960784 0.349019607843137 0.337254901960784 1" />
      </material>
    </visual>
    <collision>
      <origin
        xyz="0 0 0"
        rpy="0 0 0" />
      <geometry>
        <mesh
          filename="package://fullurdf3/meshes/sec19.STL" />
      </geometry>
    </collision>
  </link>
  <joint
    name="joint19"
    type="revolute">
    <origin
      xyz="0.01 0 0"
      rpy="0 0 0" />
    <parent
      link="sec18" />
    <child
      link="sec19" />
    <axis
      xyz="0 1 0" />
    <limit
      lower="-1.571"
      upper="1.571"
      effort="100"
      velocity="500" />
  </joint>
  <link
    name="sec20">
    <inertial>
      <origin
        xyz="0.0098619076228091 1.73472347597681E-18 1.73472347597681E-18"
        rpy="0 0 0" />
      <mass
        value="0.0573263557938968" />
      <inertia
        ixx="2.91661427121802E-06"
        ixy="5.45147507989434E-23"
        ixz="1.07644495091354E-22"
        iyy="2.24174718695487E-06"
        iyz="1.58102121374392E-22"
        izz="2.24174718695487E-06" />
    </inertial>
    <visual>
      <origin
        xyz="0 0 0"
        rpy="0 0 0" />
      <geometry>
        <mesh
          filename="package://fullurdf3/meshes/sec20.STL" />
      </geometry>
      <material
        name="">
        <color
          rgba="0.537254901960784 0.349019607843137 0.337254901960784 1" />
      </material>
    </visual>
    <collision>
      <origin
        xyz="0 0 0"
        rpy="0 0 0" />
      <geometry>
        <mesh
          filename="package://fullurdf3/meshes/sec20.STL" />
      </geometry>
    </collision>
  </link>
  <joint
    name="joint20"
    type="revolute">
    <origin
      xyz="0.01 0 0"
      rpy="0 0 0" />
    <parent
      link="sec19" />
    <child
      link="sec20" />
    <axis
      xyz="0 1 0" />
    <limit
      lower="-1.571"
      upper="1.571"
      effort="100"
      velocity="500" />
  </joint>
  <link
    name="sec21">
    <inertial>
      <origin
        xyz="-0.0025 0 -1.7347E-18"
        rpy="0 0 0" />
      <mass
        value="0.01398" />
      <inertia
        ixx="6.99E-07"
        ixy="-4.9079E-24"
        ixz="4.9079E-24"
        iyy="3.7863E-07"
        iyz="-5.6748E-24"
        izz="3.7863E-07" />
    </inertial>
    <visual>
      <origin
        xyz="0 0 0"
        rpy="0 0 0" />
      <geometry>
        <mesh
          filename="package://fullurdf3/meshes/sec21.STL" />
      </geometry>
      <material
        name="">
        <color
          rgba="0.53725 0.34902 0.33725 1" />
      </material>
    </visual>
    <collision>
      <origin
        xyz="0 0 0"
        rpy="0 0 0" />
      <geometry>
        <mesh
          filename="package://fullurdf3/meshes/sec21.STL" />
      </geometry>
    </collision>
  </link>
  <joint
    name="joint21"
    type="revolute">
    <origin
      xyz="-0.016 -0.005 0"
      rpy="0 0 0" />
    <parent
      link="base_link" />
    <child
      link="sec21" />
    <axis
      xyz="1 0 0" />
    <limit
      lower="-1.571"
      upper="1.571"
      effort="100"
      velocity="500" />
  </joint>
  <link
    name="sec22">
    <inertial>
      <origin
        xyz="-0.0025 0 -1.73472347597681E-18"
        rpy="0 0 0" />
      <mass
        value="0.0139800873084746" />
      <inertia
        ixx="6.99004365423729E-07"
        ixy="-2.45396915057398E-24"
        ixz="1.47238149034439E-23"
        iyy="3.7862736460452E-07"
        iyz="-1.71777840540179E-23"
        izz="3.7862736460452E-07" />
    </inertial>
    <visual>
      <origin
        xyz="0 0 0"
        rpy="0 0 0" />
      <geometry>
        <mesh
          filename="package://fullurdf3/meshes/sec22.STL" />
      </geometry>
      <material
        name="">
        <color
          rgba="0.537254901960784 0.349019607843137 0.337254901960784 1" />
      </material>
    </visual>
    <collision>
      <origin
        xyz="0 0 0"
        rpy="0 0 0" />
      <geometry>
        <mesh
          filename="package://fullurdf3/meshes/sec22.STL" />
      </geometry>
    </collision>
  </link>
  <joint
    name="joint22"
    type="revolute">
    <origin
      xyz="-0.01 0 0"
      rpy="0 0 0" />
    <parent
      link="sec21" />
    <child
      link="sec22" />
    <axis
      xyz="0 -1 0" />
    <limit
      lower="-1.571"
      upper="1.571"
      effort="100"
      velocity="500" />
  </joint>
  <link
    name="sec23">
    <inertial>
      <origin
        xyz="-0.0025 0 -1.73472347597681E-18"
        rpy="0 0 0" />
      <mass
        value="0.0139800873084746" />
      <inertia
        ixx="6.99004365423729E-07"
        ixy="7.42721469750038E-39"
        ixz="1.96317532045918E-23"
        iyy="3.7862736460452E-07"
        iyz="-1.71777840540178E-23"
        izz="3.7862736460452E-07" />
    </inertial>
    <visual>
      <origin
        xyz="0 0 0"
        rpy="0 0 0" />
      <geometry>
        <mesh
          filename="package://fullurdf3/meshes/sec23.STL" />
      </geometry>
      <material
        name="">
        <color
          rgba="0.537254901960784 0.349019607843137 0.337254901960784 1" />
      </material>
    </visual>
    <collision>
      <origin
        xyz="0 0 0"
        rpy="0 0 0" />
      <geometry>
        <mesh
          filename="package://fullurdf3/meshes/sec23.STL" />
      </geometry>
    </collision>
  </link>
  <joint
    name="joint23"
    type="revolute">
    <origin
      xyz="-0.01 0 0"
      rpy="0 0 0" />
    <parent
      link="sec22" />
    <child
      link="sec23" />
    <axis
      xyz="0 -1 0" />
    <limit
      lower="-1.571"
      upper="1.571"
      effort="100"
      velocity="500" />
  </joint>
  <link
    name="sec24">
    <inertial>
      <origin
        xyz="-0.0025 0 -1.73472347597681E-18"
        rpy="0 0 0" />
      <mass
        value="0.0139800873084746" />
      <inertia
        ixx="6.99004365423729E-07"
        ixy="-4.90793830114797E-24"
        ixz="4.90793830114797E-24"
        iyy="3.7862736460452E-07"
        iyz="-1.71777840540179E-23"
        izz="3.7862736460452E-07" />
    </inertial>
    <visual>
      <origin
        xyz="0 0 0"
        rpy="0 0 0" />
      <geometry>
        <mesh
          filename="package://fullurdf3/meshes/sec24.STL" />
      </geometry>
      <material
        name="">
        <color
          rgba="0.537254901960784 0.349019607843137 0.337254901960784 1" />
      </material>
    </visual>
    <collision>
      <origin
        xyz="0 0 0"
        rpy="0 0 0" />
      <geometry>
        <mesh
          filename="package://fullurdf3/meshes/sec24.STL" />
      </geometry>
    </collision>
  </link>
  <joint
    name="joint24"
    type="revolute">
    <origin
      xyz="-0.01 0 0"
      rpy="0 0 0" />
    <parent
      link="sec23" />
    <child
      link="sec24" />
    <axis
      xyz="0 -1 0" />
    <limit
      lower="-1.571"
      upper="1.571"
      effort="100"
      velocity="500" />
  </joint>
  <link
    name="sec25">
    <inertial>
      <origin
        xyz="-0.0025 0 -1.73472347597681E-18"
        rpy="0 0 0" />
      <mass
        value="0.0139800873084746" />
      <inertia
        ixx="6.99004365423729E-07"
        ixy="7.42721469750038E-39"
        ixz="1.96317532045918E-23"
        iyy="3.7862736460452E-07"
        iyz="-1.71777840540178E-23"
        izz="3.7862736460452E-07" />
    </inertial>
    <visual>
      <origin
        xyz="0 0 0"
        rpy="0 0 0" />
      <geometry>
        <mesh
          filename="package://fullurdf3/meshes/sec25.STL" />
      </geometry>
      <material
        name="">
        <color
          rgba="0.537254901960784 0.349019607843137 0.337254901960784 1" />
      </material>
    </visual>
    <collision>
      <origin
        xyz="0 0 0"
        rpy="0 0 0" />
      <geometry>
        <mesh
          filename="package://fullurdf3/meshes/sec25.STL" />
      </geometry>
    </collision>
  </link>
  <joint
    name="joint25"
    type="revolute">
    <origin
      xyz="-0.01 0 0"
      rpy="0 0 0" />
    <parent
      link="sec24" />
    <child
      link="sec25" />
    <axis
      xyz="0 -1 0" />
    <limit
      lower="-1.571"
      upper="1.571"
      effort="100"
      velocity="500" />
  </joint>
  <link
    name="sec26">
    <inertial>
      <origin
        xyz="-0.0025 0 -1.73472347597681E-18"
        rpy="0 0 0" />
      <mass
        value="0.0139800873084746" />
      <inertia
        ixx="6.9900436542373E-07"
        ixy="-2.45396915057398E-24"
        ixz="1.47238149034439E-23"
        iyy="3.7862736460452E-07"
        iyz="-5.67480366070235E-24"
        izz="3.7862736460452E-07" />
    </inertial>
    <visual>
      <origin
        xyz="0 0 0"
        rpy="0 0 0" />
      <geometry>
        <mesh
          filename="package://fullurdf3/meshes/sec26.STL" />
      </geometry>
      <material
        name="">
        <color
          rgba="0.537254901960784 0.349019607843137 0.337254901960784 1" />
      </material>
    </visual>
    <collision>
      <origin
        xyz="0 0 0"
        rpy="0 0 0" />
      <geometry>
        <mesh
          filename="package://fullurdf3/meshes/sec26.STL" />
      </geometry>
    </collision>
  </link>
  <joint
    name="joint26"
    type="revolute">
    <origin
      xyz="-0.01 0 0"
      rpy="0 0 0" />
    <parent
      link="sec25" />
    <child
      link="sec26" />
    <axis
      xyz="0 -1 0" />
    <limit
      lower="-1.571"
      upper="1.571"
      effort="100"
      velocity="500" />
  </joint>
  <link
    name="sec27">
    <inertial>
      <origin
        xyz="-0.0025 0 -1.73472347597681E-18"
        rpy="0 0 0" />
      <mass
        value="0.0139800873084746" />
      <inertia
        ixx="6.9900436542373E-07"
        ixy="-2.45396915057398E-24"
        ixz="1.47238149034439E-23"
        iyy="3.7862736460452E-07"
        iyz="-5.67480366070235E-24"
        izz="3.7862736460452E-07" />
    </inertial>
    <visual>
      <origin
        xyz="0 0 0"
        rpy="0 0 0" />
      <geometry>
        <mesh
          filename="package://fullurdf3/meshes/sec27.STL" />
      </geometry>
      <material
        name="">
        <color
          rgba="0.537254901960784 0.349019607843137 0.337254901960784 1" />
      </material>
    </visual>
    <collision>
      <origin
        xyz="0 0 0"
        rpy="0 0 0" />
      <geometry>
        <mesh
          filename="package://fullurdf3/meshes/sec27.STL" />
      </geometry>
    </collision>
  </link>
  <joint
    name="joint27"
    type="revolute">
    <origin
      xyz="-0.01 0 0"
      rpy="0 0 0" />
    <parent
      link="sec26" />
    <child
      link="sec27" />
    <axis
      xyz="0 -1 0" />
    <limit
      lower="-1.571"
      upper="1.571"
      effort="100"
      velocity="500" />
  </joint>
  <link
    name="sec28">
    <inertial>
      <origin
        xyz="-0.00249999999999999 0 -1.73472347597681E-18"
        rpy="0 0 0" />
      <mass
        value="0.0139800873084746" />
      <inertia
        ixx="6.9900436542373E-07"
        ixy="-2.45396915057398E-24"
        ixz="1.47238149034439E-23"
        iyy="3.7862736460452E-07"
        iyz="-5.67480366070235E-24"
        izz="3.7862736460452E-07" />
    </inertial>
    <visual>
      <origin
        xyz="0 0 0"
        rpy="0 0 0" />
      <geometry>
        <mesh
          filename="package://fullurdf3/meshes/sec28.STL" />
      </geometry>
      <material
        name="">
        <color
          rgba="0.537254901960784 0.349019607843137 0.337254901960784 1" />
      </material>
    </visual>
    <collision>
      <origin
        xyz="0 0 0"
        rpy="0 0 0" />
      <geometry>
        <mesh
          filename="package://fullurdf3/meshes/sec28.STL" />
      </geometry>
    </collision>
  </link>
  <joint
    name="joint28"
    type="revolute">
    <origin
      xyz="-0.01 0 0"
      rpy="0 0 0" />
    <parent
      link="sec27" />
    <child
      link="sec28" />
    <axis
      xyz="0 -1 0" />
    <limit
      lower="-1.571"
      upper="1.571"
      effort="100"
      velocity="500" />
  </joint>
  <link
    name="sec29">
    <inertial>
      <origin
        xyz="-0.0025 0 -1.73472347597681E-18"
        rpy="0 0 0" />
      <mass
        value="0.0139800873084746" />
      <inertia
        ixx="6.9900436542373E-07"
        ixy="-2.45396915057398E-24"
        ixz="1.47238149034439E-23"
        iyy="3.7862736460452E-07"
        iyz="-5.67480366070235E-24"
        izz="3.7862736460452E-07" />
    </inertial>
    <visual>
      <origin
        xyz="0 0 0"
        rpy="0 0 0" />
      <geometry>
        <mesh
          filename="package://fullurdf3/meshes/sec29.STL" />
      </geometry>
      <material
        name="">
        <color
          rgba="0.537254901960784 0.349019607843137 0.337254901960784 1" />
      </material>
    </visual>
    <collision>
      <origin
        xyz="0 0 0"
        rpy="0 0 0" />
      <geometry>
        <mesh
          filename="package://fullurdf3/meshes/sec29.STL" />
      </geometry>
    </collision>
  </link>
  <joint
    name="joint29"
    type="revolute">
    <origin
      xyz="-0.01 0 0"
      rpy="0 0 0" />
    <parent
      link="sec28" />
    <child
      link="sec29" />
    <axis
      xyz="0 -1 0" />
    <limit
      lower="-1.571"
      upper="1.571"
      effort="100"
      velocity="500" />
  </joint>
  <link
    name="sec30">
    <inertial>
      <origin
        xyz="-0.00986190762280909 -5.20417042793042E-18 1.38777878078145E-17"
        rpy="0 0 0" />
      <mass
        value="0.0573263557938968" />
      <inertia
        ixx="2.91661427121802E-06"
        ixy="-1.15557336410707E-22"
        ixz="1.68922829709981E-22"
        iyy="2.24174718695487E-06"
        iyz="-7.28394512748056E-23"
        izz="2.24174718695487E-06" />
    </inertial>
    <visual>
      <origin
        xyz="0 0 0"
        rpy="0 0 0" />
      <geometry>
        <mesh
          filename="package://fullurdf3/meshes/sec30.STL" />
      </geometry>
      <material
        name="">
        <color
          rgba="0.537254901960784 0.349019607843137 0.337254901960784 1" />
      </material>
    </visual>
    <collision>
      <origin
        xyz="0 0 0"
        rpy="0 0 0" />
      <geometry>
        <mesh
          filename="package://fullurdf3/meshes/sec30.STL" />
      </geometry>
    </collision>
  </link>
  <joint
    name="joint30"
    type="revolute">
    <origin
      xyz="-0.01 0 0"
      rpy="0 0 0" />
    <parent
      link="sec29" />
    <child
      link="sec30" />
    <axis
      xyz="0 -1 0" />
    <limit
      lower="-1.571"
      upper="1.571"
      effort="100"
      velocity="500" />
  </joint>

  <gazebo>

  <plugin name="gazebo_ros_control" filename="libgazebo_ros_control.so">
  </plugin>

  </gazebo>

  <!--transmission definition -->
<!--<transmission name="tran01">
    <type>transmission_interface/SimpleTransmission</type>
    <joint name="joint01">
      <hardwareInterface>hardware_interface/EffortJointInterface</hardwareInterface>
    </joint>
    <actuator name="motor01">
      <hardwareInterface>hardware_interface/EffortJointInterface</hardwareInterface>
      <mechanicalReduction>1</mechanicalReduction>
    </actuator>
  </transmission>
  -->

  <transmission name="tran02">
    <type>transmission_interface/SimpleTransmission</type>
    <joint name="joint02">
      <hardwareInterface>hardware_interface/EffortJointInterface</hardwareInterface>
    </joint>
    <actuator name="motor02">
      <hardwareInterface>hardware_interface/EffortJointInterface</hardwareInterface>
      <mechanicalReduction>1</mechanicalReduction>
    </actuator>
  </transmission>
  
  <transmission name="tran03">
    <type>transmission_interface/SimpleTransmission</type>
    <joint name="joint03">
      <hardwareInterface>hardware_interface/EffortJointInterface</hardwareInterface>
    </joint>
    <actuator name="motor03">
      <hardwareInterface>hardware_interface/EffortJointInterface</hardwareInterface>
      <mechanicalReduction>1</mechanicalReduction>
    </actuator>
  </transmission>
  
  <transmission name="tran04">
    <type>transmission_interface/SimpleTransmission</type>
    <joint name="joint04">
      <hardwareInterface>hardware_interface/EffortJointInterface</hardwareInterface>
    </joint>
    <actuator name="motor04">
      <hardwareInterface>hardware_interface/EffortJointInterface</hardwareInterface>
      <mechanicalReduction>1</mechanicalReduction>
    </actuator>
  </transmission>
  
  <transmission name="tran05">
    <type>transmission_interface/SimpleTransmission</type>
    <joint name="joint05">
      <hardwareInterface>hardware_interface/EffortJointInterface</hardwareInterface>
    </joint>
    <actuator name="motor05">
      <hardwareInterface>hardware_interface/EffortJointInterface</hardwareInterface>
      <mechanicalReduction>1</mechanicalReduction>
    </actuator>
  </transmission>
  
  <transmission name="tran06">
    <type>transmission_interface/SimpleTransmission</type>
    <joint name="joint06">
      <hardwareInterface>hardware_interface/EffortJointInterface</hardwareInterface>
    </joint>
    <actuator name="motor06">
      <hardwareInterface>hardware_interface/EffortJointInterface</hardwareInterface>
      <mechanicalReduction>1</mechanicalReduction>
    </actuator>
  </transmission>
  
  <transmission name="tran07">
    <type>transmission_interface/SimpleTransmission</type>
    <joint name="joint07">
      <hardwareInterface>hardware_interface/EffortJointInterface</hardwareInterface>
    </joint>
    <actuator name="motor07">
      <hardwareInterface>hardware_interface/EffortJointInterface</hardwareInterface>
      <mechanicalReduction>1</mechanicalReduction>
    </actuator>
  </transmission>
  
  <transmission name="tran08">
    <type>transmission_interface/SimpleTransmission</type>
    <joint name="joint08">
      <hardwareInterface>hardware_interface/EffortJointInterface</hardwareInterface>
    </joint>
    <actuator name="motor08">
      <hardwareInterface>hardware_interface/EffortJointInterface</hardwareInterface>
      <mechanicalReduction>1</mechanicalReduction>
    </actuator>
  </transmission>

  <transmission name="tran09">
    <type>transmission_interface/SimpleTransmission</type>
    <joint name="joint09">
      <hardwareInterface>hardware_interface/EffortJointInterface</hardwareInterface>
    </joint>
    <actuator name="motor09">
      <hardwareInterface>hardware_interface/EffortJointInterface</hardwareInterface>
      <mechanicalReduction>1</mechanicalReduction>
    </actuator>
  </transmission>

  <transmission name="tran10">
    <type>transmission_interface/SimpleTransmission</type>
    <joint name="joint10">
      <hardwareInterface>hardware_interface/EffortJointInterface</hardwareInterface>
    </joint>
    <actuator name="motor10">
      <hardwareInterface>hardware_interface/EffortJointInterface</hardwareInterface>
      <mechanicalReduction>1</mechanicalReduction>
    </actuator>
  </transmission>

  <transmission name="tran11">
    <type>transmission_interface/SimpleTransmission</type>
    <joint name="joint11">
      <hardwareInterface>hardware_interface/EffortJointInterface</hardwareInterface>
    </joint>
    <actuator name="motor11">
      <hardwareInterface>hardware_interface/EffortJointInterface</hardwareInterface>
      <mechanicalReduction>5</mechanicalReduction>
    </actuator>
  </transmission>

  <transmission name="tran12">
    <type>transmission_interface/SimpleTransmission</type>
    <joint name="joint12">
      <hardwareInterface>hardware_interface/EffortJointInterface</hardwareInterface>
    </joint>
    <actuator name="motor12">
      <hardwareInterface>hardware_interface/EffortJointInterface</hardwareInterface>
      <mechanicalReduction>5</mechanicalReduction>
    </actuator>
  </transmission>
  
  <transmission name="tran13">
    <type>transmission_interface/SimpleTransmission</type>
    <joint name="joint13">
      <hardwareInterface>hardware_interface/EffortJointInterface</hardwareInterface>
    </joint>
    <actuator name="motor13">
      <hardwareInterface>hardware_interface/EffortJointInterface</hardwareInterface>
      <mechanicalReduction>5</mechanicalReduction>
    </actuator>
  </transmission>
  
  <transmission name="tran14">
    <type>transmission_interface/SimpleTransmission</type>
    <joint name="joint14">
      <hardwareInterface>hardware_interface/EffortJointInterface</hardwareInterface>
    </joint>
    <actuator name="motor14">
      <hardwareInterface>hardware_interface/EffortJointInterface</hardwareInterface>
      <mechanicalReduction>5</mechanicalReduction>
    </actuator>
  </transmission>
  
  <transmission name="tran15">
    <type>transmission_interface/SimpleTransmission</type>
    <joint name="joint15">
      <hardwareInterface>hardware_interface/EffortJointInterface</hardwareInterface>
    </joint>
    <actuator name="motor15">
      <hardwareInterface>hardware_interface/EffortJointInterface</hardwareInterface>
      <mechanicalReduction>5</mechanicalReduction>
    </actuator>
  </transmission>
  
  <transmission name="tran16">
    <type>transmission_interface/SimpleTransmission</type>
    <joint name="joint16">
      <hardwareInterface>hardware_interface/EffortJointInterface</hardwareInterface>
    </joint>
    <actuator name="motor16">
      <hardwareInterface>hardware_interface/EffortJointInterface</hardwareInterface>
      <mechanicalReduction>5</mechanicalReduction>
    </actuator>
  </transmission>
  
  <transmission name="tran17">
    <type>transmission_interface/SimpleTransmission</type>
    <joint name="joint17">
      <hardwareInterface>hardware_interface/EffortJointInterface</hardwareInterface>
    </joint>
    <actuator name="motor17">
      <hardwareInterface>hardware_interface/EffortJointInterface</hardwareInterface>
      <mechanicalReduction>5</mechanicalReduction>
    </actuator>
  </transmission>
  
  <transmission name="tran18">
    <type>transmission_interface/SimpleTransmission</type>
    <joint name="joint18">
      <hardwareInterface>hardware_interface/EffortJointInterface</hardwareInterface>
    </joint>
    <actuator name="motor18">
      <hardwareInterface>hardware_interface/EffortJointInterface</hardwareInterface>
      <mechanicalReduction>5</mechanicalReduction>
    </actuator>
  </transmission>

  <transmission name="tran19">
    <type>transmission_interface/SimpleTransmission</type>
    <joint name="joint19">
      <hardwareInterface>hardware_interface/EffortJointInterface</hardwareInterface>
    </joint>
    <actuator name="motor19">
      <hardwareInterface>hardware_interface/EffortJointInterface</hardwareInterface>
      <mechanicalReduction>5</mechanicalReduction>
    </actuator>
  </transmission>

  <transmission name="tran20">
    <type>transmission_interface/SimpleTransmission</type>
    <joint name="joint20">
      <hardwareInterface>hardware_interface/EffortJointInterface</hardwareInterface>
    </joint>
    <actuator name="motor20">
      <hardwareInterface>hardware_interface/EffortJointInterface</hardwareInterface>
      <mechanicalReduction>5</mechanicalReduction>
    </actuator>
  </transmission>

  <transmission name="tran21">
    <type>transmission_interface/SimpleTransmission</type>
    <joint name="joint21">
      <hardwareInterface>hardware_interface/EffortJointInterface</hardwareInterface>
    </joint>
    <actuator name="motor21">
      <hardwareInterface>hardware_interface/EffortJointInterface</hardwareInterface>
      <mechanicalReduction>1</mechanicalReduction>
    </actuator>
  </transmission>
  
  <transmission name="tran22">
    <type>transmission_interface/SimpleTransmission</type>
    <joint name="joint22">
      <hardwareInterface>hardware_interface/EffortJointInterface</hardwareInterface>
    </joint>
    <actuator name="motor22">
      <hardwareInterface>hardware_interface/EffortJointInterface</hardwareInterface>
      <mechanicalReduction>1</mechanicalReduction>
    </actuator>
  </transmission>
  
  <transmission name="tran23">
    <type>transmission_interface/SimpleTransmission</type>
    <joint name="joint23">
      <hardwareInterface>hardware_interface/EffortJointInterface</hardwareInterface>
    </joint>
    <actuator name="motor23">
      <hardwareInterface>hardware_interface/EffortJointInterface</hardwareInterface>
      <mechanicalReduction>1</mechanicalReduction>
    </actuator>
  </transmission>
  
  <transmission name="tran24">
    <type>transmission_interface/SimpleTransmission</type>
    <joint name="joint24">
      <hardwareInterface>hardware_interface/EffortJointInterface</hardwareInterface>
    </joint>
    <actuator name="motor24">
      <hardwareInterface>hardware_interface/EffortJointInterface</hardwareInterface>
      <mechanicalReduction>1</mechanicalReduction>
    </actuator>
  </transmission>
  
  <transmission name="tran25">
    <type>transmission_interface/SimpleTransmission</type>
    <joint name="joint25">
      <hardwareInterface>hardware_interface/EffortJointInterface</hardwareInterface>
    </joint>
    <actuator name="motor25">
      <hardwareInterface>hardware_interface/EffortJointInterface</hardwareInterface>
      <mechanicalReduction>1</mechanicalReduction>
    </actuator>
  </transmission>
  
  <transmission name="tran26">
    <type>transmission_interface/SimpleTransmission</type>
    <joint name="joint26">
      <hardwareInterface>hardware_interface/EffortJointInterface</hardwareInterface>
    </joint>
    <actuator name="motor26">
      <hardwareInterface>hardware_interface/EffortJointInterface</hardwareInterface>
      <mechanicalReduction>1</mechanicalReduction>
    </actuator>
  </transmission>
  
  <transmission name="tran27">
    <type>transmission_interface/SimpleTransmission</type>
    <joint name="joint27">
      <hardwareInterface>hardware_interface/EffortJointInterface</hardwareInterface>
    </joint>
    <actuator name="motor27">
      <hardwareInterface>hardware_interface/EffortJointInterface</hardwareInterface>
      <mechanicalReduction>1</mechanicalReduction>
    </actuator>
  </transmission>
  
  <transmission name="tran28">
    <type>transmission_interface/SimpleTransmission</type>
    <joint name="joint28">
      <hardwareInterface>hardware_interface/EffortJointInterface</hardwareInterface>
    </joint>
    <actuator name="motor28">
      <hardwareInterface>hardware_interface/EffortJointInterface</hardwareInterface>
      <mechanicalReduction>1</mechanicalReduction>
    </actuator>
  </transmission>

  <transmission name="tran29">
    <type>transmission_interface/SimpleTransmission</type>
    <joint name="joint29">
      <hardwareInterface>hardware_interface/EffortJointInterface</hardwareInterface>
    </joint>
    <actuator name="motor29">
      <hardwareInterface>hardware_interface/EffortJointInterface</hardwareInterface>
      <mechanicalReduction>1</mechanicalReduction>
    </actuator>
  </transmission>

  <transmission name="tran30">
    <type>transmission_interface/SimpleTransmission</type>
    <joint name="joint30">
      <hardwareInterface>hardware_interface/EffortJointInterface</hardwareInterface>
    </joint>
    <actuator name="motor30">
      <hardwareInterface>hardware_interface/EffortJointInterface</hardwareInterface>
      <mechanicalReduction>1</mechanicalReduction>
    </actuator>
  </transmission>

  <transmission name="tran31">
    <type>transmission_interface/SimpleTransmission</type>
    <joint name="joint31">
      <hardwareInterface>hardware_interface/EffortJointInterface</hardwareInterface>
    </joint>
    <actuator name="motor31">
      <hardwareInterface>hardware_interface/EffortJointInterface</hardwareInterface>
      <mechanicalReduction>1</mechanicalReduction>
    </actuator>
  </transmission>
  
  <transmission name="tran32">
    <type>transmission_interface/SimpleTransmission</type>
    <joint name="joint32">
      <hardwareInterface>hardware_interface/EffortJointInterface</hardwareInterface>
    </joint>
    <actuator name="motor32">
      <hardwareInterface>hardware_interface/EffortJointInterface</hardwareInterface>
      <mechanicalReduction>1</mechanicalReduction>
    </actuator>
  </transmission>
  
  <transmission name="tran33">
    <type>transmission_interface/SimpleTransmission</type>
    <joint name="joint33">
      <hardwareInterface>hardware_interface/EffortJointInterface</hardwareInterface>
    </joint>
    <actuator name="motor33">
      <hardwareInterface>hardware_interface/EffortJointInterface</hardwareInterface>
      <mechanicalReduction>1</mechanicalReduction>
    </actuator>
  </transmission>
  
  <transmission name="tran34">
    <type>transmission_interface/SimpleTransmission</type>
    <joint name="joint34">
      <hardwareInterface>hardware_interface/EffortJointInterface</hardwareInterface>
    </joint>
    <actuator name="motor34">
      <hardwareInterface>hardware_interface/EffortJointInterface</hardwareInterface>
      <mechanicalReduction>1</mechanicalReduction>
    </actuator>
  </transmission>
  
  <transmission name="tran35">
    <type>transmission_interface/SimpleTransmission</type>
    <joint name="joint35">
      <hardwareInterface>hardware_interface/EffortJointInterface</hardwareInterface>
    </joint>
    <actuator name="motor35">
      <hardwareInterface>hardware_interface/EffortJointInterface</hardwareInterface>
      <mechanicalReduction>1</mechanicalReduction>
    </actuator>
  </transmission>
  
  <transmission name="tran36">
    <type>transmission_interface/SimpleTransmission</type>
    <joint name="joint36">
      <hardwareInterface>hardware_interface/EffortJointInterface</hardwareInterface>
    </joint>
    <actuator name="motor36">
      <hardwareInterface>hardware_interface/EffortJointInterface</hardwareInterface>
      <mechanicalReduction>1</mechanicalReduction>
    </actuator>
  </transmission>
  
  <transmission name="tran37">
    <type>transmission_interface/SimpleTransmission</type>
    <joint name="joint37">
      <hardwareInterface>hardware_interface/EffortJointInterface</hardwareInterface>
    </joint>
    <actuator name="motor37">
      <hardwareInterface>hardware_interface/EffortJointInterface</hardwareInterface>
      <mechanicalReduction>1</mechanicalReduction>
    </actuator>
  </transmission>
  
  <transmission name="tran38">
    <type>transmission_interface/SimpleTransmission</type>
    <joint name="joint38">
      <hardwareInterface>hardware_interface/EffortJointInterface</hardwareInterface>
    </joint>
    <actuator name="motor38">
      <hardwareInterface>hardware_interface/EffortJointInterface</hardwareInterface>
      <mechanicalReduction>1</mechanicalReduction>
    </actuator>
  </transmission>

  <transmission name="tran39">
    <type>transmission_interface/SimpleTransmission</type>
    <joint name="joint39">
      <hardwareInterface>hardware_interface/EffortJointInterface</hardwareInterface>
    </joint>
    <actuator name="motor39">
      <hardwareInterface>hardware_interface/EffortJointInterface</hardwareInterface>
      <mechanicalReduction>1</mechanicalReduction>
    </actuator>
  </transmission>

  <transmission name="tran40">
    <type>transmission_interface/SimpleTransmission</type>
    <joint name="joint40">
      <hardwareInterface>hardware_interface/EffortJointInterface</hardwareInterface>
    </joint>
    <actuator name="motor40">
      <hardwareInterface>hardware_interface/EffortJointInterface</hardwareInterface>
      <mechanicalReduction>1</mechanicalReduction>
    </actuator>
  </transmission>

  <transmission name="tran41">
    <type>transmission_interface/SimpleTransmission</type>
    <joint name="joint41">
      <hardwareInterface>hardware_interface/EffortJointInterface</hardwareInterface>
    </joint>
    <actuator name="motor41">
      <hardwareInterface>hardware_interface/EffortJointInterface</hardwareInterface>
      <mechanicalReduction>1</mechanicalReduction>
    </actuator>
  </transmission>
  
  <transmission name="tran42">
    <type>transmission_interface/SimpleTransmission</type>
    <joint name="joint42">
      <hardwareInterface>hardware_interface/EffortJointInterface</hardwareInterface>
    </joint>
    <actuator name="motor42">
      <hardwareInterface>hardware_interface/EffortJointInterface</hardwareInterface>
      <mechanicalReduction>1</mechanicalReduction>
    </actuator>
  </transmission>
  
  <transmission name="tran43">
    <type>transmission_interface/SimpleTransmission</type>
    <joint name="joint43">
      <hardwareInterface>hardware_interface/EffortJointInterface</hardwareInterface>
    </joint>
    <actuator name="motor43">
      <hardwareInterface>hardware_interface/EffortJointInterface</hardwareInterface>
      <mechanicalReduction>1</mechanicalReduction>
    </actuator>
  </transmission>
  
  <transmission name="tran44">
    <type>transmission_interface/SimpleTransmission</type>
    <joint name="joint44">
      <hardwareInterface>hardware_interface/EffortJointInterface</hardwareInterface>
    </joint>
    <actuator name="motor44">
      <hardwareInterface>hardware_interface/EffortJointInterface</hardwareInterface>
      <mechanicalReduction>1</mechanicalReduction>
    </actuator>
  </transmission>
  
  <transmission name="tran45">
    <type>transmission_interface/SimpleTransmission</type>
    <joint name="joint45">
      <hardwareInterface>hardware_interface/EffortJointInterface</hardwareInterface>
    </joint>
    <actuator name="motor45">
      <hardwareInterface>hardware_interface/EffortJointInterface</hardwareInterface>
      <mechanicalReduction>1</mechanicalReduction>
    </actuator>
  </transmission>
  
  <transmission name="tran46">
    <type>transmission_interface/SimpleTransmission</type>
    <joint name="joint46">
      <hardwareInterface>hardware_interface/EffortJointInterface</hardwareInterface>
    </joint>
    <actuator name="motor46">
      <hardwareInterface>hardware_interface/EffortJointInterface</hardwareInterface>
      <mechanicalReduction>1</mechanicalReduction>
    </actuator>
  </transmission>
  
  <transmission name="tran47">
    <type>transmission_interface/SimpleTransmission</type>
    <joint name="joint47">
      <hardwareInterface>hardware_interface/EffortJointInterface</hardwareInterface>
    </joint>
    <actuator name="motor47">
      <hardwareInterface>hardware_interface/EffortJointInterface</hardwareInterface>
      <mechanicalReduction>1</mechanicalReduction>
    </actuator>
  </transmission>
  
  <transmission name="tran48">
    <type>transmission_interface/SimpleTransmission</type>
    <joint name="joint48">
      <hardwareInterface>hardware_interface/EffortJointInterface</hardwareInterface>
    </joint>
    <actuator name="motor48">
      <hardwareInterface>hardware_interface/EffortJointInterface</hardwareInterface>
      <mechanicalReduction>1</mechanicalReduction>
    </actuator>
  </transmission>

  <transmission name="tran49">
    <type>transmission_interface/SimpleTransmission</type>
    <joint name="joint49">
      <hardwareInterface>hardware_interface/EffortJointInterface</hardwareInterface>
    </joint>
    <actuator name="motor49">
      <hardwareInterface>hardware_interface/EffortJointInterface</hardwareInterface>
      <mechanicalReduction>1</mechanicalReduction>
    </actuator>
  </transmission>

  <transmission name="tran50">
    <type>transmission_interface/SimpleTransmission</type>
    <joint name="joint50">
      <hardwareInterface>hardware_interface/EffortJointInterface</hardwareInterface>
    </joint>
    <actuator name="motor50">
      <hardwareInterface>hardware_interface/EffortJointInterface</hardwareInterface>
      <mechanicalReduction>1</mechanicalReduction>
    </actuator>
  </transmission>

  <gazebo>
  <plugin name="JointStiffnessPlugin" filename="libsoftactuator.so">
  <joint>
    <name>joint02</name>
    <stiffness>0.4</stiffness>
    <damping>1</damping>
    <friction>0.07</friction>
  </joint>
  <joint>
    <name>joint03</name>
    <stiffness>0.4</stiffness>
    <damping>1</damping>
    <friction>0.07</friction>
  </joint>
  <joint>
    <name>joint04</name>
    <stiffness>0.4</stiffness>
    <damping>1</damping>
    <friction>0.07</friction>
  </joint>
  <joint>
    <name>joint05</name>
    <stiffness>0.4</stiffness>
    <damping>1</damping>
    <friction>0.07</friction>
  </joint>
  <joint>
    <name>joint06</name>
    <stiffness>0.4</stiffness>
    <damping>1</damping>
    <friction>0.07</friction>
  </joint>
  <joint>
    <name>joint07</name>
    <stiffness>0.4</stiffness>
    <damping>1</damping>
    <friction>0.07</friction>
  </joint>

  <joint>
    <name>joint08</name>
    <stiffness>0.4</stiffness>
    <damping>1</damping>
    <friction>0.07</friction>
  </joint>

  <joint>
    <name>joint09</name>
    <stiffness>0.4</stiffness>
    <damping>1</damping>
    <friction>0.07</friction>
  </joint>

  <joint>
    <name>joint10</name>
    <stiffness>0.4</stiffness>
    <damping>1</damping>
    <friction>0.07</friction>
  </joint>

  <joint>
    <name>joint11</name>
    <stiffness>0.4</stiffness>
    <damping>1</damping>
    <friction>0.07</friction>
  </joint>

  <joint>
    <name>joint12</name>
    <stiffness>0.4</stiffness>
    <damping>1</damping>
    <friction>0.07</friction>
  </joint>

  <joint>
    <name>joint13</name>
    <stiffness>0.4</stiffness>
    <damping>1</damping>
    <friction>0.07</friction>
  </joint>

  <joint>
    <name>joint14</name>
    <stiffness>0.4</stiffness>
    <damping>1</damping>
    <friction>0.07</friction>
  </joint>

  <joint>
    <name>joint15</name>
    <stiffness>0.4</stiffness>
    <damping>1</damping>
    <friction>0.07</friction>
  </joint>

  <joint>
    <name>joint16</name>
    <stiffness>0.4</stiffness>
    <damping>1</damping>
    <friction>0.07</friction>
  </joint>

  <joint>
    <name>joint17</name>
    <stiffness>0.4</stiffness>
    <damping>1</damping>
    <friction>0.07</friction>
  </joint>

  <joint>
    <name>joint18</name>
    <stiffness>0.4</stiffness>
    <damping>1</damping>
    <friction>0.07</friction>
  </joint>

  <joint>
    <name>joint19</name>
    <stiffness>0.4</stiffness>
    <damping>1</damping>
    <friction>0.07</friction>
  </joint>

  <joint>
    <name>joint20</name>
    <stiffness>0.4</stiffness>
    <damping>1</damping>
    <friction>0.07</friction>
  </joint>

  <joint>
    <name>joint21</name>
    <stiffness>0.4</stiffness>
    <damping>1</damping>
    <friction>0.07</friction>
  </joint>

  <joint>
    <name>joint22</name>
    <stiffness>0.4</stiffness>
    <damping>1</damping>
    <friction>0.07</friction>
  </joint>

  <joint>
    <name>joint23</name>
    <stiffness>0.4</stiffness>
    <damping>1</damping>
    <friction>0.07</friction>
  </joint>

  <joint>
    <name>joint24</name>
    <stiffness>0.4</stiffness>
    <damping>1</damping>
    <friction>0.07</friction>
  </joint>

  <joint>
    <name>joint25</name>
    <stiffness>0.4</stiffness>
    <damping>1</damping>
    <friction>0.07</friction>
  </joint>

  <joint>
    <name>joint26</name>
    <stiffness>0.4</stiffness>
    <damping>1</damping>
    <friction>0.07</friction>
  </joint>

  <joint>
    <name>joint27</name>
    <stiffness>0.4</stiffness>
    <damping>1</damping>
    <friction>0.07</friction>
  </joint>

  <joint>
    <name>joint28</name>
    <stiffness>0.4</stiffness>
    <damping>1</damping>
    <friction>0.07</friction>
  </joint>

  <joint>
    <name>joint29</name>
    <stiffness>0.4</stiffness>
    <damping>1</damping>
    <friction>0.07</friction>
  </joint>

  <joint>
    <name>joint30</name>
    <stiffness>0.4</stiffness>
    <damping>1</damping>
    <friction>0.07</friction>
  </joint>

  <joint>
    <name>joint31</name>
    <stiffness>0.4</stiffness>
    <damping>1</damping>
    <friction>0.07</friction>
  </joint>

  <joint>
    <name>joint32</name>
    <stiffness>0.4</stiffness>
    <damping>1</damping>
    <friction>0.07</friction>
  </joint>

  <joint>
    <name>joint33</name>
    <stiffness>0.4</stiffness>
    <damping>1</damping>
    <friction>0.07</friction>
  </joint>

  <joint>
    <name>joint34</name>
    <stiffness>0.4</stiffness>
    <damping>1</damping>
    <friction>0.07</friction>
  </joint>

  <joint>
    <name>joint35</name>
    <stiffness>0.4</stiffness>
    <damping>1</damping>
    <friction>0.07</friction>
  </joint>

  <joint>
    <name>joint36</name>
    <stiffness>0.4</stiffness>
    <damping>1</damping>
    <friction>0.07</friction>
  </joint>

  <joint>
    <name>joint37</name>
    <stiffness>0.4</stiffness>
    <damping>1</damping>
    <friction>0.07</friction>
  </joint>

  <joint>
    <name>joint38</name>
    <stiffness>0.4</stiffness>
    <damping>1</damping>
    <friction>0.07</friction>
  </joint>

  <joint>
    <name>joint39</name>
    <stiffness>0.4</stiffness>
    <damping>1</damping>
    <friction>0.07</friction>
  </joint>

  <joint>
    <name>joint40</name>
    <stiffness>0.4</stiffness>
    <damping>1</damping>
    <friction>0.07</friction>
  </joint>

  <joint>
    <name>joint41</name>
    <stiffness>0.4</stiffness>
    <damping>1</damping>
    <friction>0.07</friction>
  </joint>

  <joint>
    <name>joint42</name>
    <stiffness>0.4</stiffness>
    <damping>1</damping>
    <friction>0.07</friction>
  </joint>

  <joint>
    <name>joint43</name>
    <stiffness>0.4</stiffness>
    <damping>1</damping>
    <friction>0.07</friction>
  </joint>

  <joint>
    <name>joint44</name>
    <stiffness>0.4</stiffness>
    <damping>1</damping>
    <friction>0.07</friction>
  </joint>

  <joint>
    <name>joint45</name>
    <stiffness>0.4</stiffness>
    <damping>1</damping>
    <friction>0.07</friction>
  </joint>

  <joint>
    <name>joint46</name>
    <stiffness>0.4</stiffness>
    <damping>1</damping>
    <friction>0.07</friction>
  </joint>

  <joint>
    <name>joint47</name>
    <stiffness>0.4</stiffness>
    <damping>1</damping>
    <friction>0.07</friction>
  </joint>

  <joint>
    <name>joint48</name>
    <stiffness>0.4</stiffness>
    <damping>1</damping>
    <friction>0.07</friction>
  </joint>

  <joint>
    <name>joint49</name>
    <stiffness>0.4</stiffness>
    <damping>1</damping>
    <friction>0.07</friction>
  </joint>

  <joint>
    <name>joint50</name>
    <stiffness>0.4</stiffness>
    <damping>1</damping>
    <friction>0.07</friction>
  </joint>

  </plugin>

  </gazebo>
</robot>
